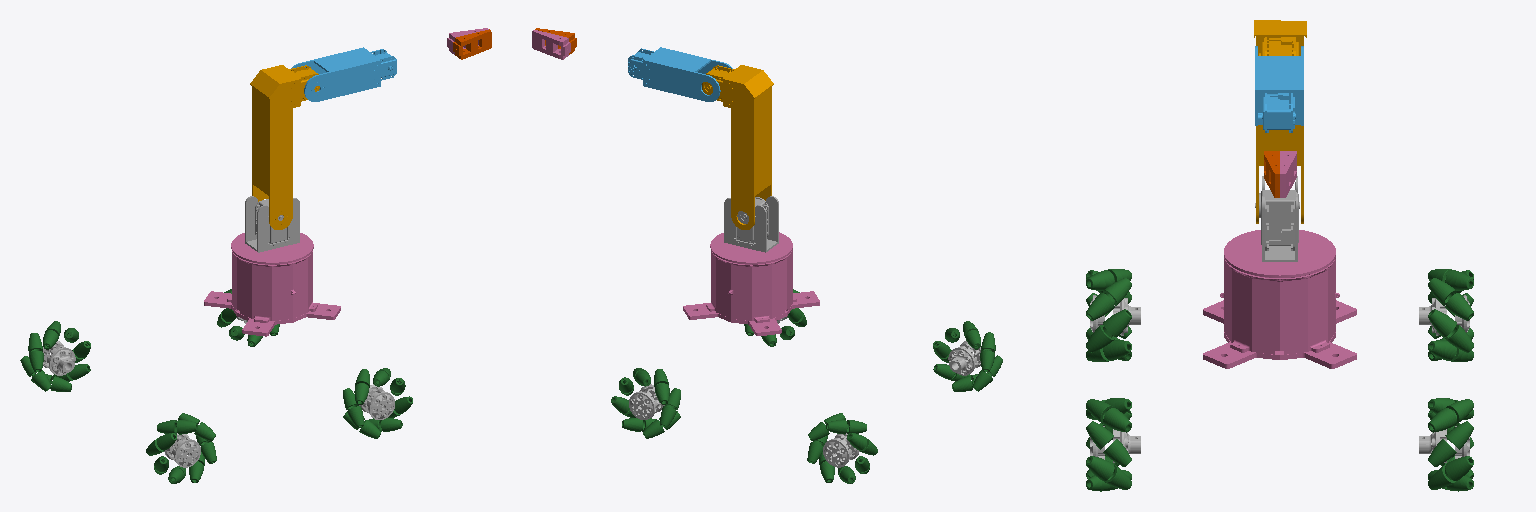
--- Facts derived from the render (not from the file) ---
3 views of the same robot in one strip: view 1: azimuth 30°, elevation 25°; view 2: azimuth 150°, elevation 25°; view 3: azimuth 270°, elevation 25° (orthographic).
Model omnibot_robot with 95 links and 94 joints (5 revolute, 60 continuous, 2 prismatic, 27 fixed), rooted at base_footprint, posed every joint at zero.
Visible links, largest first — view 1: ang_link0, ang_link2, ang_link3, ang_link1, right_front_mecanum_adapter_link, right_back_mecanum_adapter_link, ang_link6, left_back_mecanum_adapter_link; view 2: ang_link0, ang_link2, ang_link3, ang_link1, left_front_mecanum_adapter_link, left_back_mecanum_adapter_link, ang_link7, right_back_mecanum_adapter_link; view 3: ang_link0, ang_link3, ang_link2, ang_link1, ang_link7, ang_link6, right_front_mecanum_adapter_link, left_front_mecanum_adapter_link, left_back_mecanum_adapter_link, right_back_mecanum_adapter_link.
Link boxes in pixels (x1=…): ang_link0: x1=204, y1=233, x2=340, y2=336; ang_link2: x1=250, y1=65, x2=319, y2=229; ang_link3: x1=291, y1=47, x2=396, y2=101; ang_link1: x1=245, y1=196, x2=299, y2=252; right_front_mecanum_adapter_link: x1=359, y1=384, x2=394, y2=419; right_back_mecanum_adapter_link: x1=164, y1=433, x2=200, y2=467; ang_link6: x1=453, y1=29, x2=491, y2=59; left_back_mecanum_adapter_link: x1=43, y1=341, x2=75, y2=375; ang_link0: x1=683, y1=232, x2=819, y2=335; ang_link2: x1=702, y1=65, x2=773, y2=229; ang_link3: x1=628, y1=47, x2=732, y2=101; ang_link1: x1=724, y1=196, x2=778, y2=252; left_front_mecanum_adapter_link: x1=629, y1=384, x2=664, y2=419; left_back_mecanum_adapter_link: x1=823, y1=433, x2=859, y2=467; ang_link7: x1=532, y1=30, x2=570, y2=59; right_back_mecanum_adapter_link: x1=948, y1=341, x2=980, y2=375; ang_link0: x1=1203, y1=230, x2=1356, y2=368; ang_link3: x1=1255, y1=46, x2=1303, y2=132; ang_link2: x1=1254, y1=20, x2=1306, y2=223; ang_link1: x1=1255, y1=176, x2=1299, y2=261; ang_link7: x1=1280, y1=151, x2=1296, y2=197; ang_link6: x1=1264, y1=151, x2=1279, y2=197; right_front_mecanum_adapter_link: x1=1090, y1=426, x2=1140, y2=462; left_front_mecanum_adapter_link: x1=1419, y1=426, x2=1469, y2=462; left_back_mecanum_adapter_link: x1=1419, y1=295, x2=1469, y2=335; right_back_mecanum_adapter_link: x1=1090, y1=295, x2=1140, y2=335.
Size in the robot's own frame: 0.6909 by 0.4273 by 0.5308 metres.
66 mesh visuals loaded from 13 distinct referenced files (7 Collada DAE); not drawn: 9 (reference not matched to a file when rendering).

robot.urdf — omnibot_robot:
<?xml version="1.0" ?>
<!-- =================================================================================== -->
<!-- |    This document was autogenerated by xacro from [local-path]/OmniBot/src/omnibot_description/urdf/omnibot_description.urdf.xacro | -->
<!-- |    EDITING THIS FILE BY HAND IS NOT RECOMMENDED                                 | -->
<!-- =================================================================================== -->
<robot name="omnibot_robot">
    <gazebo>
        <plugin filename="libgazebo_ros_control.so" name="gazebo_ros_control">
            <robotNamespace>omnibot_robot</robotNamespace>
        </plugin>
    </gazebo>
    <arg default="omnibot_platform" name="robot_namespace" />
    <!-- OMNIWHEEL -->
    <!-- REALSENSE -->
    <!-- <xacro:property name="t265_xacro_path"
        value="$(find omnibot_platform_description)/urdf/t265.xacro" />
    <xacro:property name="t265_mesh_path"
        value="package://omnibot_platform_description/meshes/t265.stl" /> -->
    <!-- <xacro:property name="d435_x_offset" value="-0.01950" />
    <xacro:property name="d435_y_offset" value="0.0" />
    <xacro:property name="d435_z_offset" value="0.019" /> -->
    <!--  PLATFORM DESCRIPTION -->
    <link name="base_footprint" />
    <link name="base_link">
        <inertial>
            <origin rpy="0.0 3.14         -1.57" xyz="0.0 0.0         0.0" />
            <mass value="3.0" />
            <inertia ixx="0.03822400000000001" ixy="0" ixz="0" iyy="0.0334243025" iyz="0" izz="0.0334243025" />
        </inertial>
        <visual name="">
            <origin rpy="0.0 3.14 -1.57" xyz="0.0 0.0 0.0" />
            <geometry>
                <mesh filename="package://omnibot_platform_description/meshes/base.dae" scale="0.001 0.001 0.001" />
            </geometry>
            <material name="">
                <color rgba="1.0 0.0 0.0 1.0" />
                <texture filename="" />
            </material>
        </visual>
        <collision>
            <origin rpy="0.0 3.14 -1.57" xyz="0.0 0.0 0.0" />
            <geometry>
                <mesh filename="package://omnibot_platform_description/meshes/base.dae" scale="0.001 0.001 0.001" />
            </geometry>
        </collision>
    </link>
    <joint name="base_footprint_joint" type="fixed">
        <parent link="base_footprint" />
        <child link="base_link" />
        <origin rpy="0.0 0.0 0.0" xyz="0.0 0.0 0.0" />
    </joint>
    <link name="left_front_mecanum_wheel_link">
        <visual>
            <origin rpy="0 0 1.57" xyz="0 0 0" />
            <geometry>
                <mesh filename="package://omnibot_platform_description/meshes/wheel_base.dae" scale="0.001 0.001 0.001" />
            </geometry>
        </visual>
        <collision>
            <origin rpy="0 0 1.57" xyz="0 0 0" />
            <geometry>
                <mesh filename="package://omnibot_platform_description/meshes/wheel_base.dae" scale="0.001 0.001 0.001" />
            </geometry>
        </collision>
        <inertial>
            <origin rpy="0 0 0" xyz="0 0 0" />
            <mass value="0.25" />
            <inertia ixx="0.0031" ixy="0" ixz="0" iyy="0.005" iyz="0" izz="0.0031" />
        </inertial>
    </link>
    <joint name="left_front_adapter_connector_joint" type="fixed">
        <parent link="left_front_mecanum_wheel_link" />
        <child link="left_front_mecanum_adapter_link" />
        <origin rpy="0 0 1.57" xyz="0 0 0" />
    </joint>
    <link name="left_front_mecanum_adapter_link">
        <visual>
            <origin rpy="0 0 1.57" xyz="0 0.035 0" />
            <geometry>
                <mesh filename="package://omnibot_platform_description/meshes/adapter.dae" scale="0.001 0.001 0.001" />
            </geometry>
        </visual>
        <collision>
            <origin rpy="0 0 1.57" xyz="0 0.035 0" />
            <geometry>
                <mesh filename="package://omnibot_platform_description/meshes/adapter.dae" scale="0.001 0.001 0.001" />
            </geometry>
        </collision>
        <inertial>
            <origin rpy="0 0 0" xyz="0 0 0" />
            <mass value="0.005" />
            <inertia ixx="0.00001" ixy="0.0" ixz="0.0" iyy="0.00001" iyz="0.0" izz="0.00001" />
        </inertial>
    </link>
    <gazebo reference="left_front_wheel_link">
        <mu1 value="0.6" />
        <mu2 value="0.6" />
        <kp value="10000000.0" />
        <kd value="1.0" />
        <fdir1 value="0 1 0" />
    </gazebo>
    <link name="left_front_roller_1_7_link">
        <visual>
            <origin rpy="0 0 0" xyz="-0.002 0 0" />
            <geometry>
                <mesh filename="package://omnibot_platform_description/meshes/wheel_roller2.dae" scale="0.001 0.001 0.001" />
            </geometry>
        </visual>
        <collision>
            <origin rpy="0 0 0" xyz="-0.002 0 0" />
            <geometry>
                <mesh filename="package://omnibot_platform_description/meshes/wheel_roller2.dae" scale="0.001 0.001 0.001" />
            </geometry>
        </collision>
        <inertial>
            <origin rpy="0 0 0" xyz="-0.002 0 0" />
            <mass value="0.3" />
            <inertia ixx="0.00024000" ixy="0.0" ixz="0.0" iyy="0.00076000" iyz="0.0" izz="0.00076000" />
        </inertial>
        <surface>
            <friction>
                <ode>
                    <mu1>10.2</mu1>
                    <mu2>10.2</mu2>
                    <kp>1e15</kp>
                    <kd>1e13</kd>
                </ode>
            </friction>
            <bounce>
                <restitution_coefficient>0.01</restitution_coefficient>
                <threshold>0</threshold>
            </bounce>
            <contact>
                <ode>
                    <max_vel>100</max_vel>
                </ode>
            </contact>
        </surface>
    </link>
    <joint name="left_front_roller_1_7_joint" type="continuous">
        <origin rpy="1.0573448805303245 0.4565720337917211 -0.6635639812413235" xyz="0 0.025122274586293944 -0.03149920859715446" />
        <axis xyz="1 0 0" />
        <parent link="left_front_mecanum_wheel_link" />
        <child link="left_front_roller_1_7_link" />
        <!-- <safety_controller k_velocity="10.0" /> -->
        <dynamics damping="0.001" friction="0.0001" />
    </joint>
    <transmission name="left_front_roller_1_7_trans">
        <type>transmission_interface/SimpleTransmission</type>
        <joint name="left_front_roller_1_7_joint">
            <hardwareInterface>hardware_interface/EffortJointInterface</hardwareInterface>
        </joint>
        <actuator name="left_front_roller_1_7_motor">
            <hardwareInterface>hardware_interface/EffortJointInterface</hardwareInterface>
            <mechanismReduction>1</mechanismReduction>
            <mechanicalReduction>1</mechanicalReduction>
        </actuator>
    </transmission>
    <!-- <gazebo reference="${joint_name}_link">
        <selfCollide>0</selfCollide>
        <kp>1000000</kp>
        <kd>100</kd>
      </gazebo> -->
    <link name="left_front_roller_1_6_link">
        <visual>
            <origin rpy="0 0 0" xyz="-0.002 0 0" />
            <geometry>
                <mesh filename="package://omnibot_platform_description/meshes/wheel_roller2.dae" scale="0.001 0.001 0.001" />
            </geometry>
        </visual>
        <collision>
            <origin rpy="0 0 0" xyz="-0.002 0 0" />
            <geometry>
                <mesh filename="package://omnibot_platform_description/meshes/wheel_roller2.dae" scale="0.001 0.001 0.001" />
            </geometry>
        </collision>
        <inertial>
            <origin rpy="0 0 0" xyz="-0.002 0 0" />
            <mass value="0.3" />
            <inertia ixx="0.00024000" ixy="0.0" ixz="0.0" iyy="0.00076000" iyz="0.0" izz="0.00076000" />
        </inertial>
        <surface>
            <friction>
                <ode>
                    <mu1>10.2</mu1>
                    <mu2>10.2</mu2>
                    <kp>1e15</kp>
                    <kd>1e13</kd>
                </ode>
            </friction>
            <bounce>
                <restitution_coefficient>0.01</restitution_coefficient>
                <threshold>0</threshold>
            </bounce>
            <contact>
                <ode>
                    <max_vel>100</max_vel>
                </ode>
            </contact>
        </surface>
    </link>
    <joint name="left_front_roller_1_6_joint" type="continuous">
        <origin rpy="-1.410783610235587 -0.15800265975965155 -0.7727036539648158" xyz="0 -0.008966035991901749 -0.039278870653893495" />
        <axis xyz="1 0 0" />
        <parent link="left_front_mecanum_wheel_link" />
        <child link="left_front_roller_1_6_link" />
        <!-- <safety_controller k_velocity="10.0" /> -->
        <dynamics damping="0.001" friction="0.0001" />
    </joint>
    <transmission name="left_front_roller_1_6_trans">
        <type>transmission_interface/SimpleTransmission</type>
        <joint name="left_front_roller_1_6_joint">
            <hardwareInterface>hardware_interface/EffortJointInterface</hardwareInterface>
        </joint>
        <actuator name="left_front_roller_1_6_motor">
            <hardwareInterface>hardware_interface/EffortJointInterface</hardwareInterface>
            <mechanismReduction>1</mechanismReduction>
            <mechanicalReduction>1</mechanicalReduction>
        </actuator>
    </transmission>
    <!-- <gazebo reference="${joint_name}_link">
        <selfCollide>0</selfCollide>
        <kp>1000000</kp>
        <kd>100</kd>
      </gazebo> -->
    <link name="left_front_roller_1_5_link">
        <visual>
            <origin rpy="0 0 0" xyz="-0.002 0 0" />
            <geometry>
                <mesh filename="package://omnibot_platform_description/meshes/wheel_roller2.dae" scale="0.001 0.001 0.001" />
            </geometry>
        </visual>
        <collision>
            <origin rpy="0 0 0" xyz="-0.002 0 0" />
            <geometry>
                <mesh filename="package://omnibot_platform_description/meshes/wheel_roller2.dae" scale="0.001 0.001 0.001" />
            </geometry>
        </collision>
        <inertial>
            <origin rpy="0 0 0" xyz="-0.002 0 0" />
            <mass value="0.3" />
            <inertia ixx="0.00024000" ixy="0.0" ixz="0.0" iyy="0.00076000" iyz="0.0" izz="0.00076000" />
        </inertial>
        <surface>
            <friction>
                <ode>
                    <mu1>10.2</mu1>
                    <mu2>10.2</mu2>
                    <kp>1e15</kp>
                    <kd>1e13</kd>
                </ode>
            </friction>
            <bounce>
                <restitution_coefficient>0.01</restitution_coefficient>
                <threshold>0</threshold>
            </bounce>
            <contact>
                <ode>
                    <max_vel>100</max_vel>
                </ode>
            </contact>
        </surface>
    </link>
    <joint name="left_front_roller_1_5_joint" type="continuous">
        <origin rpy="-0.5978938662841263 -0.6907055756402474 -0.4093711270983411" xyz="0 -0.036302738594392175 -0.017480741965307293" />
        <axis xyz="1 0 0" />
        <parent link="left_front_mecanum_wheel_link" />
        <child link="left_front_roller_1_5_link" />
        <!-- <safety_controller k_velocity="10.0" /> -->
        <dynamics damping="0.001" friction="0.0001" />
    </joint>
    <transmission name="left_front_roller_1_5_trans">
        <type>transmission_interface/SimpleTransmission</type>
        <joint name="left_front_roller_1_5_joint">
            <hardwareInterface>hardware_interface/EffortJointInterface</hardwareInterface>
        </joint>
        <actuator name="left_front_roller_1_5_motor">
            <hardwareInterface>hardware_interface/EffortJointInterface</hardwareInterface>
            <mechanismReduction>1</mechanismReduction>
            <mechanicalReduction>1</mechanicalReduction>
        </actuator>
    </transmission>
    <!-- <gazebo reference="${joint_name}_link">
        <selfCollide>0</selfCollide>
        <kp>1000000</kp>
        <kd>100</kd>
      </gazebo> -->
    <link name="left_front_roller_1_4_link">
        <visual>
            <origin rpy="0 0 0" xyz="-0.002 0 0" />
            <geometry>
                <mesh filename="package://omnibot_platform_description/meshes/wheel_roller2.dae" scale="0.001 0.001 0.001" />
            </geometry>
        </visual>
        <collision>
            <origin rpy="0 0 0" xyz="-0.002 0 0" />
            <geometry>
                <mesh filename="package://omnibot_platform_description/meshes/wheel_roller2.dae" scale="0.001 0.001 0.001" />
            </geometry>
        </collision>
        <inertial>
            <origin rpy="0 0 0" xyz="-0.002 0 0" />
            <mass value="0.3" />
            <inertia ixx="0.00024000" ixy="0.0" ixz="0.0" iyy="0.00076000" iyz="0.0" izz="0.00076000" />
        </inertial>
        <surface>
            <friction>
                <ode>
                    <mu1>10.2</mu1>
                    <mu2>10.2</mu2>
                    <kp>1e15</kp>
                    <kd>1e13</kd>
                </ode>
            </friction>
            <bounce>
                <restitution_coefficient>0.01</restitution_coefficient>
                <threshold>0</threshold>
            </bounce>
            <contact>
                <ode>
                    <max_vel>100</max_vel>
                </ode>
            </contact>
        </surface>
    </link>
    <joint name="left_front_roller_1_4_joint" type="continuous">
        <origin rpy="0.5978938662841266 -0.6907055756402473 0.4093711270983413" xyz="0 -0.036302738594392175 0.017480741965307304" />
        <axis xyz="1 0 0" />
        <parent link="left_front_mecanum_wheel_link" />
        <child link="left_front_roller_1_4_link" />
        <!-- <safety_controller k_velocity="10.0" /> -->
        <dynamics damping="0.001" friction="0.0001" />
    </joint>
    <transmission name="left_front_roller_1_4_trans">
        <type>transmission_interface/SimpleTransmission</type>
        <joint name="left_front_roller_1_4_joint">
            <hardwareInterface>hardware_interface/EffortJointInterface</hardwareInterface>
        </joint>
        <actuator name="left_front_roller_1_4_motor">
            <hardwareInterface>hardware_interface/EffortJointInterface</hardwareInterface>
            <mechanismReduction>1</mechanismReduction>
            <mechanicalReduction>1</mechanicalReduction>
        </actuator>
    </transmission>
    <!-- <gazebo reference="${joint_name}_link">
        <selfCollide>0</selfCollide>
        <kp>1000000</kp>
        <kd>100</kd>
      </gazebo> -->
    <link name="left_front_roller_1_3_link">
        <visual>
            <origin rpy="0 0 0" xyz="-0.002 0 0" />
            <geometry>
                <mesh filename="package://omnibot_platform_description/meshes/wheel_roller2.dae" scale="0.001 0.001 0.001" />
            </geometry>
        </visual>
        <collision>
            <origin rpy="0 0 0" xyz="-0.002 0 0" />
            <geometry>
                <mesh filename="package://omnibot_platform_description/meshes/wheel_roller2.dae" scale="0.001 0.001 0.001" />
            </geometry>
        </collision>
        <inertial>
            <origin rpy="0 0 0" xyz="-0.002 0 0" />
            <mass value="0.3" />
            <inertia ixx="0.00024000" ixy="0.0" ixz="0.0" iyy="0.00076000" iyz="0.0" izz="0.00076000" />
        </inertial>
        <surface>
            <friction>
                <ode>
                    <mu1>10.2</mu1>
                    <mu2>10.2</mu2>
                    <kp>1e15</kp>
                    <kd>1e13</kd>
                </ode>
            </friction>
            <bounce>
                <restitution_coefficient>0.01</restitution_coefficient>
                <threshold>0</threshold>
            </bounce>
            <contact>
                <ode>
                    <max_vel>100</max_vel>
                </ode>
            </contact>
        </surface>
    </link>
    <joint name="left_front_roller_1_3_joint" type="continuous">
        <origin rpy="1.4107836102355866 -0.15800265975965203 0.7727036539648157" xyz="0 -0.008966035991901775 0.03927887065389349" />
        <axis xyz="1 0 0" />
        <parent link="left_front_mecanum_wheel_link" />
        <child link="left_front_roller_1_3_link" />
        <!-- <safety_controller k_velocity="10.0" /> -->
        <dynamics damping="0.001" friction="0.0001" />
    </joint>
    <transmission name="left_front_roller_1_3_trans">
        <type>transmission_interface/SimpleTransmission</type>
        <joint name="left_front_roller_1_3_joint">
            <hardwareInterface>hardware_interface/EffortJointInterface</hardwareInterface>
        </joint>
        <actuator name="left_front_roller_1_3_motor">
            <hardwareInterface>hardware_interface/EffortJointInterface</hardwareInterface>
            <mechanismReduction>1</mechanismReduction>
            <mechanicalReduction>1</mechanicalReduction>
        </actuator>
    </transmission>
    <!-- <gazebo reference="${joint_name}_link">
        <selfCollide>0</selfCollide>
        <kp>1000000</kp>
        <kd>100</kd>
      </gazebo> -->
    <link name="left_front_roller_1_2_link">
        <visual>
            <origin rpy="0 0 0" xyz="-0.002 0 0" />
            <geometry>
                <mesh filename="package://omnibot_platform_description/meshes/wheel_roller2.dae" scale="0.001 0.001 0.001" />
            </geometry>
        </visual>
        <collision>
            <origin rpy="0 0 0" xyz="-0.002 0 0" />
            <geometry>
                <mesh filename="package://omnibot_platform_description/meshes/wheel_roller2.dae" scale="0.001 0.001 0.001" />
            </geometry>
        </collision>
        <inertial>
            <origin rpy="0 0 0" xyz="-0.002 0 0" />
            <mass value="0.3" />
            <inertia ixx="0.00024000" ixy="0.0" ixz="0.0" iyy="0.00076000" iyz="0.0" izz="0.00076000" />
        </inertial>
        <surface>
            <friction>
                <ode>
                    <mu1>10.2</mu1>
                    <mu2>10.2</mu2>
                    <kp>1e15</kp>
                    <kd>1e13</kd>
                </ode>
            </friction>
            <bounce>
                <restitution_coefficient>0.01</restitution_coefficient>
                <threshold>0</threshold>
            </bounce>
            <contact>
                <ode>
                    <max_vel>100</max_vel>
                </ode>
            </contact>
        </surface>
    </link>
    <joint name="left_front_roller_1_2_joint" type="continuous">
        <origin rpy="-1.0573448805303243 0.4565720337917213 0.6635639812413234" xyz="0 0.025122274586293954 0.03149920859715445" />
        <axis xyz="1 0 0" />
        <parent link="left_front_mecanum_wheel_link" />
        <child link="left_front_roller_1_2_link" />
        <!-- <safety_controller k_velocity="10.0" /> -->
        <dynamics damping="0.001" friction="0.0001" />
    </joint>
    <transmission name="left_front_roller_1_2_trans">
        <type>transmission_interface/SimpleTransmission</type>
        <joint name="left_front_roller_1_2_joint">
            <hardwareInterface>hardware_interface/EffortJointInterface</hardwareInterface>
        </joint>
        <actuator name="left_front_roller_1_2_motor">
            <hardwareInterface>hardware_interface/EffortJointInterface</hardwareInterface>
            <mechanismReduction>1</mechanismReduction>
            <mechanicalReduction>1</mechanicalReduction>
        </actuator>
    </transmission>
    <!-- <gazebo reference="${joint_name}_link">
        <selfCollide>0</selfCollide>
        <kp>1000000</kp>
        <kd>100</kd>
      </gazebo> -->
    <link name="left_front_roller_1_1_link">
        <visual>
            <origin rpy="0 0 0" xyz="-0.002 0 0" />
            <geometry>
                <mesh filename="package://omnibot_platform_description/meshes/wheel_roller2.dae" scale="0.001 0.001 0.001" />
            </geometry>
        </visual>
        <collision>
            <origin rpy="0 0 0" xyz="-0.002 0 0" />
            <geometry>
                <mesh filename="package://omnibot_platform_description/meshes/wheel_roller2.dae" scale="0.001 0.001 0.001" />
            </geometry>
        </collision>
        <inertial>
            <origin rpy="0 0 0" xyz="-0.002 0 0" />
            <mass value="0.3" />
            <inertia ixx="0.00024000" ixy="0.0" ixz="0.0" iyy="0.00076000" iyz="0.0" izz="0.00076000" />
        </inertial>
        <surface>
            <friction>
                <ode>
                    <mu1>10.2</mu1>
                    <mu2>10.2</mu2>
                    <kp>1e15</kp>
                    <kd>1e13</kd>
                </ode>
            </friction>
            <bounce>
                <restitution_coefficient>0.01</restitution_coefficient>
                <threshold>0</threshold>
            </bounce>
            <contact>
                <ode>
                    <max_vel>100</max_vel>
                </ode>
            </contact>
        </surface>
    </link>
    <joint name="left_front_roller_1_1_joint" type="continuous">
        <origin rpy="-0.0 0.7853981633974482 0.0" xyz="0 0.040293 0.0" />
        <axis xyz="1 0 0" />
        <parent link="left_front_mecanum_wheel_link" />
        <child link="left_front_roller_1_1_link" />
        <!-- <safety_controller k_velocity="10.0" /> -->
        <dynamics damping="0.001" friction="0.0001" />
    </joint>
    <transmission name="left_front_roller_1_1_trans">
        <type>transmission_interface/SimpleTransmission</type>
        <joint name="left_front_roller_1_1_joint">
            <hardwareInterface>hardware_interface/EffortJointInterface</hardwareInterface>
        </joint>
        <actuator name="left_front_roller_1_1_motor">
            <hardwareInterface>hardware_interface/EffortJointInterface</hardwareInterface>
            <mechanismReduction>1</mechanismReduction>
            <mechanicalReduction>1</mechanicalReduction>
        </actuator>
    </transmission>
    <!-- <gazebo reference="${joint_name}_link">
        <selfCollide>0</selfCollide>
        <kp>1000000</kp>
        <kd>100</kd>
      </gazebo> -->
    <link name="left_front_roller_2_7_link">
        <visual>
            <origin rpy="0 0 0" xyz="-0.002 0 0" />
            <geometry>
                <mesh filename="package://omnibot_platform_description/meshes/wheel_roller2.dae" scale="0.001 0.001 0.001" />
            </geometry>
        </visual>
        <collision>
            <origin rpy="0 0 0" xyz="-0.002 0 0" />
            <geometry>
                <mesh filename="package://omnibot_platform_description/meshes/wheel_roller2.dae" scale="0.001 0.001 0.001" />
            </geometry>
        </collision>
        <inertial>
            <origin rpy="0 0 0" xyz="-0.002 0 0" />
            <mass value="0.3" />
            <inertia ixx="0.00024000" ixy="0.0" ixz="0.0" iyy="0.00076000" iyz="0.0" izz="0.00076000" />
        </inertial>
        <surface>
            <friction>
                <ode>
                    <mu1>10.2</mu1>
                    <mu2>10.2</mu2>
                    <kp>1e15</kp>
                    <kd>1e13</kd>
                </ode>
            </friction>
            <bounce>
                <restitution_coefficient>0.01</restitution_coefficient>
                <threshold>0</threshold>
            </bounce>
            <contact>
                <ode>
                    <max_vel>100</max_vel>
                </ode>
            </contact>
        </surface>
    </link>
    <joint name="left_front_roller_2_7_joint" type="continuous">
        <origin rpy="4.197344880530324 3.596572033791721 -0.6635639812413235" xyz="0 0.025122274586293944 -0.03149920859715446" />
        <axis xyz="1 0 0" />
        <parent link="left_front_mecanum_wheel_link" />
        <child link="left_front_roller_2_7_link" />
        <!-- <safety_controller k_velocity="10.0" /> -->
        <dynamics damping="0.001" friction="0.0001" />
    </joint>
    <transmission name="left_front_roller_2_7_trans">
        <type>transmission_interface/SimpleTransmission</type>
        <joint name="left_front_roller_2_7_joint">
            <hardwareInterface>hardware_interface/EffortJointInterface</hardwareInterface>
        </joint>
        <actuator name="left_front_roller_2_7_motor">
            <hardwareInterface>hardware_interface/EffortJointInterface</hardwareInterface>
            <mechanismReduction>1</mechanismReduction>
            <mechanicalReduction>1</mechanicalReduction>
        </actuator>
    </transmission>
    <!-- <gazebo reference="${joint_name}_link">
        <selfCollide>0</selfCollide>
        <kp>1000000</kp>
        <kd>100</kd>
      </gazebo> -->
    <link name="left_front_roller_2_6_link">
        <visual>
            <origin rpy="0 0 0" xyz="-0.002 0 0" />
            <geometry>
                <mesh filename="package://omnibot_platform_description/meshes/wheel_roller2.dae" scale="0.001 0.001 0.001" />
            </geometry>
        </visual>
        <collision>
            <origin rpy="0 0 0" xyz="-0.002 0 0" />
            <geometry>
                <mesh filename="package://omnibot_platform_description/meshes/wheel_roller2.dae" scale="0.001 0.001 0.001" />
            </geometry>
        </collision>
        <inertial>
            <origin rpy="0 0 0" xyz="-0.002 0 0" />
            <mass value="0.3" />
            <inertia ixx="0.00024000" ixy="0.0" ixz="0.0" iyy="0.00076000" iyz="0.0" izz="0.00076000" />
        </inertial>
        <surface>
            <friction>
                <ode>
                    <mu1>10.2</mu1>
                    <mu2>10.2</mu2>
                    <kp>1e15</kp>
                    <kd>1e13</kd>
                </ode>
            </friction>
            <bounce>
                <restitution_coefficient>0.01</restitution_coefficient>
                <threshold>0</threshold>
            </bounce>
            <contact>
                <ode>
                    <max_vel>100</max_vel>
                </ode>
            </contact>
        </surface>
    </link>
    <joint name="left_front_roller_2_6_joint" type="continuous">
        <origin rpy="1.729216389764413 2.9819973402403486 -0.7727036539648158" xyz="0 -0.008966035991901749 -0.039278870653893495" />
        <axis xyz="1 0 0" />
        <parent link="left_front_mecanum_wheel_link" />
        <child link="left_front_roller_2_6_link" />
        <!-- <safety_controller k_velocity="10.0" /> -->
        <dynamics damping="0.001" friction="0.0001" />
    </joint>
    <transmission name="left_front_roller_2_6_trans">
        <type>transmission_interface/SimpleTransmission</type>
        <joint name="left_front_roller_2_6_joint">
            <hardwareInterface>hardware_interface/EffortJointInterface</hardwareInterface>
        </joint>
        <actuator name="left_front_roller_2_6_motor">
            <hardwareInterface>hardware_interface/EffortJointInterface</hardwareInterface>
            <mechanismReduction>1</mechanismReduction>
            <mechanicalReduction>1</mechanicalReduction>
        </actuator>
    </transmission>
    <!-- <gazebo reference="${joint_name}_link">
        <selfCollide>0</selfCollide>
        <kp>1000000</kp>
        <kd>100</kd>
      </gazebo> -->
    <link name="left_front_roller_2_5_link">
        <visual>
            <origin rpy="0 0 0" xyz="-0.002 0 0" />
            <geometry>
                <mesh filename="package://omnibot_platform_description/meshes/wheel_roller2.dae" scale="0.001 0.001 0.001" />
            </geometry>
        </visual>
        <collision>
            <origin rpy="0 0 0" xyz="-0.002 0 0" />
            <geometry>
                <mesh filename="package://omnibot_platform_description/meshes/wheel_roller2.dae" scale="0.001 0.001 0.001" />
            </geometry>
        </collision>
        <inertial>
            <origin rpy="0 0 0" xyz="-0.002 0 0" />
            <mass value="0.3" />
            <inertia ixx="0.00024000" ixy="0.0" ixz="0.0" iyy="0.00076000" iyz="0.0" izz="0.00076000" />
        </inertial>
        <surface>
            <friction>
                <ode>
                    <mu1>10.2</mu1>
                    <mu2>10.2</mu2>
                    <kp>1e15</kp>
                    <kd>1e13</kd>
                </ode>
            </friction>
            <bounce>
                <restitution_coefficient>0.01</restitution_coefficient>
                <threshold>0</threshold>
            </bounce>
            <contact>
                <ode>
                    <max_vel>100</max_vel>
                </ode>
            </contact>
        </surface>
    </link>
    <joint name="left_front_roller_2_5_joint" type="continuous">
        <origin rpy="2.542106133715874 2.4492944243597528 -0.4093711270983411" xyz="0 -0.036302738594392175 -0.017480741965307293" />
        <axis xyz="1 0 0" />
        <parent link="left_front_mecanum_wheel_link" />
        <child link="left_front_roller_2_5_link" />
        <!-- <safety_controller k_velocity="10.0" /> -->
        <dynamics damping="0.001" friction="0.0001" />
    </joint>
    <transmission name="left_front_roller_2_5_trans">
        <type>transmission_interface/SimpleTransmission</type>
        <joint name="left_front_roller_2_5_joint">
            <hardwareInterface>hardware_interface/EffortJointInterface</hardwareInterface>
        </joint>
        <actuator name="left_front_roller_2_5_motor">
            <hardwareInterface>hardware_interface/EffortJointInterface</hardwareInterface>
            <mechanismReduction>1</mechanismReduction>
            <mechanicalReduction>1</mechanicalReduction>
        </actuator>
    </transmission>
    <!-- <gazebo reference="${joint_name}_link">
        <selfCollide>0</selfCollide>
        <kp>1000000</kp>
        <kd>100</kd>
      </gazebo> -->
    <link name="left_front_roller_2_4_link">
        <visual>
            <origin rpy="0 0 0" xyz="-0.002 0 0" />
            <geometry>
                <mesh filename="package://omnibot_platform_description/meshes/wheel_roller2.dae" scale="0.001 0.001 0.001" />
            </geometry>
        </visual>
        <collision>
            <origin rpy="0 0 0" xyz="-0.002 0 0" />
            <geometry>
                <mesh filename="package://omnibot_platform_description/meshes/wheel_roller2.dae" scale="0.001 0.001 0.001" />
            </geometry>
        </collision>
        <inertial>
            <origin rpy="0 0 0" xyz="-0.002 0 0" />
            <mass value="0.3" />
            <inertia ixx="0.00024000" ixy="0.0" ixz="0.0" iyy="0.00076000" iyz="0.0" izz="0.00076000" />
        </inertial>
        <surface>
            <friction>
                <ode>
                    <mu1>10.2</mu1>
                    <mu2>10.2</mu2>
                    <kp>1e15</kp>
                    <kd>1e13</kd>
                </ode>
            </friction>
            <bounce>
                <restitution_coefficient>0.01</restitution_coefficient>
                <threshold>0</threshold>
            </bounce>
            <contact>
                <ode>
                    <max_vel>100</max_vel>
                </ode>
            </contact>
        </surface>
    </link>
    <joint name="left_front_roller_2_4_joint" type="continuous">
        <origin rpy="3.737893866284127 2.4492944243597528 0.4093711270983413" xyz="0 -0.036302738594392175 0.017480741965307304" />
        <axis xyz="1 0 0" />
        <parent link="left_front_mecanum_wheel_link" />
        <child link="left_front_roller_2_4_link" />
        <!-- <safety_controller k_velocity="10.0" /> -->
        <dynamics damping="0.001" friction="0.0001" />
    </joint>
    <transmission name="left_front_roller_2_4_trans">
        <type>transmission_interface/SimpleTransmission</type>
        <joint name="left_front_roller_2_4_joint">
            <hardwareInterface>hardware_interface/EffortJointInterface</hardwareInterface>
        </joint>
        <actuator name="left_front_roller_2_4_motor">
            <hardwareInterface>hardware_interface/EffortJointInterface</hardwareInterface>
            <mechanismReduction>1</mechanismReduction>
            <mechanicalReduction>1</mechanicalReduction>
        </actuator>
    </transmission>
    <!-- <gazebo reference="${joint_name}_link">
        <selfCollide>0</selfCollide>
        <kp>1000000</kp>
        <kd>100</kd>
      </gazebo> -->
    <link name="left_front_roller_2_3_link">
        <visual>
            <origin rpy="0 0 0" xyz="-0.002 0 0" />
            <geometry>
                <mesh filename="package://omnibot_platform_description/meshes/wheel_roller2.dae" scale="0.001 0.001 0.001" />
            </geometry>
        </visual>
        <collision>
            <origin rpy="0 0 0" xyz="-0.002 0 0" />
            <geometry>
                <mesh filename="package://omnibot_platform_description/meshes/wheel_roller2.dae" scale="0.001 0.001 0.001" />
            </geometry>
        </collision>
        <inertial>
            <origin rpy="0 0 0" xyz="-0.002 0 0" />
            <mass value="0.3" />
            <inertia ixx="0.00024000" ixy="0.0" ixz="0.0" iyy="0.00076000" iyz="0.0" izz="0.00076000" />
        </inertial>
        <surface>
            <friction>
                <ode>
                    <mu1>10.2</mu1>
                    <mu2>10.2</mu2>
                    <kp>1e15</kp>
                    <kd>1e13</kd>
                </ode>
            </friction>
            <bounce>
                <restitution_coefficient>0.01</restitution_coefficient>
                <threshold>0</threshold>
            </bounce>
            <contact>
                <ode>
                    <max_vel>100</max_vel>
                </ode>
            </contact>
        </surface>
    </link>
    <joint name="left_front_roller_2_3_joint" type="continuous">
        <origin rpy="4.5507836102355865 2.981997340240348 0.7727036539648157" xyz="0 -0.008966035991901775 0.03927887065389349" />
        <axis xyz="1 0 0" />
        <parent link="left_front_mecanum_wheel_link" />
        <child link="left_front_roller_2_3_link" />
        <!-- <safety_controller k_velocity="10.0" /> -->
        <dynamics damping="0.001" friction="0.0001" />
    </joint>
    <transmission name="left_front_roller_2_3_trans">
        <type>transmission_interface/SimpleTransmission</type>
        <joint name="left_front_roller_2_3_joint">
            <hardwareInterface>hardware_interface/EffortJointInterface</hardwareInterface>
        </joint>
        <actuator name="left_front_roller_2_3_motor">
            <hardwareInterface>hardware_interface/EffortJointInterface</hardwareInterface>
            <mechanismReduction>1</mechanismReduction>
            <mechanicalReduction>1</mechanicalReduction>
        </actuator>
    </transmission>
    <!-- <gazebo reference="${joint_name}_link">
        <selfCollide>0</selfCollide>
        <kp>1000000</kp>
        <kd>100</kd>
      </gazebo> -->
    <link name="left_front_roller_2_2_link">
        <visual>
            <origin rpy="0 0 0" xyz="-0.002 0 0" />
            <geometry>
                <mesh filename="package://omnibot_platform_description/meshes/wheel_roller2.dae" scale="0.001 0.001 0.001" />
            </geometry>
        </visual>
        <collision>
            <origin rpy="0 0 0" xyz="-0.002 0 0" />
            <geometry>
                <mesh filename="package://omnibot_platform_description/meshes/wheel_roller2.dae" scale="0.001 0.001 0.001" />
            </geometry>
        </collision>
        <inertial>
            <origin rpy="0 0 0" xyz="-0.002 0 0" />
            <mass value="0.3" />
            <inertia ixx="0.00024000" ixy="0.0" ixz="0.0" iyy="0.00076000" iyz="0.0" izz="0.00076000" />
        </inertial>
        <surface>
            <friction>
                <ode>
                    <mu1>10.2</mu1>
                    <mu2>10.2</mu2>
                    <kp>1e15</kp>
                    <kd>1e13</kd>
                </ode>
            </friction>
            <bounce>
                <restitution_coefficient>0.01</restitution_coefficient>
                <threshold>0</threshold>
            </bounce>
            <contact>
                <ode>
                    <max_vel>100</max_vel>
                </ode>
            </contact>
        </surface>
    </link>
    <joint name="left_front_roller_2_2_joint" type="continuous">
        <origin rpy="2.082655119469676 3.5965720337917215 0.6635639812413234" xyz="0 0.025122274586293954 0.03149920859715445" />
        <axis xyz="1 0 0" />
        <parent link="left_front_mecanum_wheel_link" />
        <child link="left_front_roller_2_2_link" />
        <!-- <safety_controller k_velocity="10.0" /> -->
        <dynamics damping="0.001" friction="0.0001" />
    </joint>
    <transmission name="left_front_roller_2_2_trans">
        <type>transmission_interface/SimpleTransmission</type>
        <joint name="left_front_roller_2_2_joint">
            <hardwareInterface>hardware_interface/EffortJointInterface</hardwareInterface>
        </joint>
        <actuator name="left_front_roller_2_2_motor">
            <hardwareInterface>hardware_interface/EffortJointInterface</hardwareInterface>
            <mechanismReduction>1</mechanismReduction>
            <mechanicalReduction>1</mechanicalReduction>
        </actuator>
    </transmission>
    <!-- <gazebo reference="${joint_name}_link">
        <selfCollide>0</selfCollide>
        <kp>1000000</kp>
        <kd>100</kd>
      </gazebo> -->
    <link name="left_front_roller_2_1_link">
        <visual>
            <origin rpy="0 0 0" xyz="-0.002 0 0" />
            <geometry>
                <mesh filename="package://omnibot_platform_description/meshes/wheel_roller2.dae" scale="0.001 0.001 0.001" />
            </geometry>
        </visual>
        <collision>
            <origin rpy="0 0 0" xyz="-0.002 0 0" />
            <geometry>
                <mesh filename="package://omnibot_platform_description/meshes/wheel_roller2.dae" scale="0.001 0.001 0.001" />
            </geometry>
        </collision>
        <inertial>
            <origin rpy="0 0 0" xyz="-0.002 0 0" />
            <mass value="0.3" />
            <inertia ixx="0.00024000" ixy="0.0" ixz="0.0" iyy="0.00076000" iyz="0.0" izz="0.00076000" />
        </inertial>
        <surface>
            <friction>
                <ode>
                    <mu1>10.2</mu1>
                    <mu2>10.2</mu2>
                    <kp>1e15</kp>
                    <kd>1e13</kd>
                </ode>
            </friction>
            <bounce>
                <restitution_coefficient>0.01</restitution_coefficient>
                <threshold>0</threshold>
            </bounce>
            <contact>
                <ode>
                    <max_vel>100</max_vel>
                </ode>
            </contact>
        </surface>
    </link>
    <joint name="left_front_roller_2_1_joint" type="continuous">
        <origin rpy="3.14 3.9253981633974484 0.0" xyz="0 0.040293 0.0" />
        <axis xyz="1 0 0" />
        <parent link="left_front_mecanum_wheel_link" />
        <child link="left_front_roller_2_1_link" />
        <!-- <safety_controller k_velocity="10.0" /> -->
        <dynamics damping="0.001" friction="0.0001" />
    </joint>
    <transmission name="left_front_roller_2_1_trans">
        <type>transmission_interface/SimpleTransmission</type>
        <joint name="left_front_roller_2_1_joint">
            <hardwareInterface>hardware_interface/EffortJointInterface</hardwareInterface>
        </joint>
        <actuator name="left_front_roller_2_1_motor">
            <hardwareInterface>hardware_interface/EffortJointInterface</hardwareInterface>
            <mechanismReduction>1</mechanismReduction>
            <mechanicalReduction>1</mechanicalReduction>
        </actuator>
    </transmission>
    <!-- <gazebo reference="${joint_name}_link">
        <selfCollide>0</selfCollide>
        <kp>1000000</kp>
        <kd>100</kd>
      </gazebo> -->
    <transmission name="left_front_mecanum_trans">
        <type>transmission_interface/SimpleTransmission</type>
        <actuator name="left_front_mecanum_motor">
            <mechanicalReduction>1</mechanicalReduction>
            <hardwareInterface>hardware_interface/EffortJointInterface</hardwareInterface>
        </actuator>
        <joint name="left_front_mecanum_joint">
            <hardwareInterface>hardware_interface/VelocityJointInterface</hardwareInterface>
        </joint>
    </transmission>
    <joint name="left_front_mecanum_joint" type="continuous">
        <origin rpy="0.0 0.0 1.57" xyz="0.168 0.18805 0.0155" />
        <parent link="base_link" />
        <child link="left_front_mecanum_wheel_link" />
        <axis xyz="1 0 0" />
        <limit effort="1000.0" lower="-3.14" upper="3.14" velocity="100.0" />
    </joint>
    <link name="right_front_mecanum_wheel_link">
        <visual>
            <origin rpy="0 0 -1.57" xyz="0 0 0" />
            <geometry>
                <mesh filename="package://omnibot_platform_description/meshes/wheel_base.dae" scale="-0.001 0.001 0.001" />
            </geometry>
        </visual>
        <collision>
            <origin rpy="0 0 -1.57" xyz="0 0 0" />
            <geometry>
                <mesh filename="package://omnibot_platform_description/meshes/wheel_base.dae" scale="-0.001 0.001 0.001" />
            </geometry>
        </collision>
        <inertial>
            <origin rpy="0 0 0" xyz="0 0 0" />
            <mass value="0.25" />
            <inertia ixx="0.0031" ixy="0" ixz="0" iyy="0.005" iyz="0" izz="0.0031" />
        </inertial>
    </link>
    <joint name="right_front_adapter_connector_joint" type="fixed">
        <parent link="right_front_mecanum_wheel_link" />
        <child link="right_front_mecanum_adapter_link" />
        <origin rpy="0 0 -1.57" xyz="0 0 0" />
    </joint>
    <link name="right_front_mecanum_adapter_link">
        <visual>
            <origin rpy="0 0 -1.57" xyz="0 0.035 0" />
            <geometry>
                <mesh filename="package://omnibot_platform_description/meshes/adapter.dae" scale="-0.001 0.001 0.001" />
            </geometry>
        </visual>
        <collision>
            <origin rpy="0 0 -1.57" xyz="0 0.035 0" />
            <geometry>
                <mesh filename="package://omnibot_platform_description/meshes/adapter.dae" scale="-0.001 0.001 0.001" />
            </geometry>
        </collision>
        <inertial>
            <origin rpy="0 0 0" xyz="0 0 0" />
            <mass value="0.005" />
            <inertia ixx="0.00001" ixy="0.0" ixz="0.0" iyy="0.00001" iyz="0.0" izz="0.00001" />
        </inertial>
    </link>
    <gazebo reference="right_front_wheel_link">
        <mu1 value="0.6" />
        <mu2 value="0.6" />
        <kp value="10000000.0" />
        <kd value="1.0" />
        <fdir1 value="0 1 0" />
    </gazebo>
    <link name="right_front_roller_1_7_link">
        <visual>
            <origin rpy="0 0 0" xyz="-0.002 0 0" />
            <geometry>
                <mesh filename="package://omnibot_platform_description/meshes/wheel_roller2.dae" scale="0.001 0.001 0.001" />
            </geometry>
        </visual>
        <collision>
            <origin rpy="0 0 0" xyz="-0.002 0 0" />
            <geometry>
                <mesh filename="package://omnibot_platform_description/meshes/wheel_roller2.dae" scale="0.001 0.001 0.001" />
            </geometry>
        </collision>
        <inertial>
            <origin rpy="0 0 0" xyz="-0.002 0 0" />
            <mass value="0.3" />
            <inertia ixx="0.00024000" ixy="0.0" ixz="0.0" iyy="0.00076000" iyz="0.0" izz="0.00076000" />
        </inertial>
        <surface>
            <friction>
                <ode>
                    <mu1>10.2</mu1>
                    <mu2>10.2</mu2>
                    <kp>1e15</kp>
                    <kd>1e13</kd>
                </ode>
            </friction>
            <bounce>
                <restitution_coefficient>0.01</restitution_coefficient>
                <threshold>0</threshold>
            </bounce>
            <contact>
                <ode>
                    <max_vel>100</max_vel>
                </ode>
            </contact>
        </surface>
    </link>
    <joint name="right_front_roller_1_7_joint" type="continuous">
        <origin rpy="1.0573448805303245 -0.4565720337917211 0.6635639812413235" xyz="0 0.025122274586293944 -0.03150233592308433" />
        <axis xyz="1 0 0" />
        <parent link="right_front_mecanum_wheel_link" />
        <child link="right_front_roller_1_7_link" />
        <!-- <safety_controller k_velocity="10.0" /> -->
        <dynamics damping="0.001" friction="0.0001" />
    </joint>
    <transmission name="right_front_roller_1_7_trans">
        <type>transmission_interface/SimpleTransmission</type>
        <joint name="right_front_roller_1_7_joint">
            <hardwareInterface>hardware_interface/EffortJointInterface</hardwareInterface>
        </joint>
        <actuator name="right_front_roller_1_7_motor">
            <hardwareInterface>hardware_interface/EffortJointInterface</hardwareInterface>
            <mechanismReduction>1</mechanismReduction>
            <mechanicalReduction>1</mechanicalReduction>
        </actuator>
    </transmission>
    <!-- <gazebo reference="${joint_name}_link">
        <selfCollide>0</selfCollide>
        <kp>1000000</kp>
        <kd>100</kd>
      </gazebo> -->
    <link name="right_front_roller_1_6_link">
        <visual>
            <origin rpy="0 0 0" xyz="-0.002 0 0" />
            <geometry>
                <mesh filename="package://omnibot_platform_description/meshes/wheel_roller2.dae" scale="0.001 0.001 0.001" />
            </geometry>
        </visual>
        <collision>
            <origin rpy="0 0 0" xyz="-0.002 0 0" />
            <geometry>
                <mesh filename="package://omnibot_platform_description/meshes/wheel_roller2.dae" scale="0.001 0.001 0.001" />
            </geometry>
        </collision>
        <inertial>
            <origin rpy="0 0 0" xyz="-0.002 0 0" />
            <mass value="0.3" />
            <inertia ixx="0.00024000" ixy="0.0" ixz="0.0" iyy="0.00076000" iyz="0.0" izz="0.00076000" />
        </inertial>
        <surface>
            <friction>
                <ode>
                    <mu1>10.2</mu1>
                    <mu2>10.2</mu2>
                    <kp>1e15</kp>
                    <kd>1e13</kd>
                </ode>
            </friction>
            <bounce>
                <restitution_coefficient>0.01</restitution_coefficient>
                <threshold>0</threshold>
            </bounce>
            <contact>
                <ode>
                    <max_vel>100</max_vel>
                </ode>
            </contact>
        </surface>
    </link>
    <joint name="right_front_roller_1_6_joint" type="continuous">
        <origin rpy="-1.410783610235587 0.15800265975965155 0.7727036539648158" xyz="0 -0.008966035991901749 -0.03928277036554222" />
        <axis xyz="1 0 0" />
        <parent link="right_front_mecanum_wheel_link" />
        <child link="right_front_roller_1_6_link" />
        <!-- <safety_controller k_velocity="10.0" /> -->
        <dynamics damping="0.001" friction="0.0001" />
    </joint>
    <transmission name="right_front_roller_1_6_trans">
        <type>transmission_interface/SimpleTransmission</type>
        <joint name="right_front_roller_1_6_joint">
            <hardwareInterface>hardware_interface/EffortJointInterface</hardwareInterface>
        </joint>
        <actuator name="right_front_roller_1_6_motor">
            <hardwareInterface>hardware_interface/EffortJointInterface</hardwareInterface>
            <mechanismReduction>1</mechanismReduction>
            <mechanicalReduction>1</mechanicalReduction>
        </actuator>
    </transmission>
    <!-- <gazebo reference="${joint_name}_link">
        <selfCollide>0</selfCollide>
        <kp>1000000</kp>
        <kd>100</kd>
      </gazebo> -->
    <link name="right_front_roller_1_5_link">
        <visual>
            <origin rpy="0 0 0" xyz="-0.002 0 0" />
            <geometry>
                <mesh filename="package://omnibot_platform_description/meshes/wheel_roller2.dae" scale="0.001 0.001 0.001" />
            </geometry>
        </visual>
        <collision>
            <origin rpy="0 0 0" xyz="-0.002 0 0" />
            <geometry>
                <mesh filename="package://omnibot_platform_description/meshes/wheel_roller2.dae" scale="0.001 0.001 0.001" />
            </geometry>
        </collision>
        <inertial>
            <origin rpy="0 0 0" xyz="-0.002 0 0" />
            <mass value="0.3" />
            <inertia ixx="0.00024000" ixy="0.0" ixz="0.0" iyy="0.00076000" iyz="0.0" izz="0.00076000" />
        </inertial>
        <surface>
            <friction>
                <ode>
                    <mu1>10.2</mu1>
                    <mu2>10.2</mu2>
                    <kp>1e15</kp>
                    <kd>1e13</kd>
                </ode>
            </friction>
            <bounce>
                <restitution_coefficient>0.01</restitution_coefficient>
                <threshold>0</threshold>
            </bounce>
            <contact>
                <ode>
                    <max_vel>100</max_vel>
                </ode>
            </contact>
        </surface>
    </link>
    <joint name="right_front_roller_1_5_joint" type="continuous">
        <origin rpy="-0.5978938662841263 0.6907055756402474 0.4093711270983411" xyz="0 -0.036302738594392175 -0.017482477500263768" />
        <axis xyz="1 0 0" />
        <parent link="right_front_mecanum_wheel_link" />
        <child link="right_front_roller_1_5_link" />
        <!-- <safety_controller k_velocity="10.0" /> -->
        <dynamics damping="0.001" friction="0.0001" />
    </joint>
    <transmission name="right_front_roller_1_5_trans">
        <type>transmission_interface/SimpleTransmission</type>
        <joint name="right_front_roller_1_5_joint">
            <hardwareInterface>hardware_interface/EffortJointInterface</hardwareInterface>
        </joint>
        <actuator name="right_front_roller_1_5_motor">
            <hardwareInterface>hardware_interface/EffortJointInterface</hardwareInterface>
            <mechanismReduction>1</mechanismReduction>
            <mechanicalReduction>1</mechanicalReduction>
        </actuator>
    </transmission>
    <!-- <gazebo reference="${joint_name}_link">
        <selfCollide>0</selfCollide>
        <kp>1000000</kp>
        <kd>100</kd>
      </gazebo> -->
    <link name="right_front_roller_1_4_link">
        <visual>
            <origin rpy="0 0 0" xyz="-0.002 0 0" />
            <geometry>
                <mesh filename="package://omnibot_platform_description/meshes/wheel_roller2.dae" scale="0.001 0.001 0.001" />
            </geometry>
        </visual>
        <collision>
            <origin rpy="0 0 0" xyz="-0.002 0 0" />
            <geometry>
                <mesh filename="package://omnibot_platform_description/meshes/wheel_roller2.dae" scale="0.001 0.001 0.001" />
            </geometry>
        </collision>
        <inertial>
            <origin rpy="0 0 0" xyz="-0.002 0 0" />
            <mass value="0.3" />
            <inertia ixx="0.00024000" ixy="0.0" ixz="0.0" iyy="0.00076000" iyz="0.0" izz="0.00076000" />
        </inertial>
        <surface>
            <friction>
                <ode>
                    <mu1>10.2</mu1>
                    <mu2>10.2</mu2>
                    <kp>1e15</kp>
                    <kd>1e13</kd>
                </ode>
            </friction>
            <bounce>
                <restitution_coefficient>0.01</restitution_coefficient>
                <threshold>0</threshold>
            </bounce>
            <contact>
                <ode>
                    <max_vel>100</max_vel>
                </ode>
            </contact>
        </surface>
    </link>
    <joint name="right_front_roller_1_4_joint" type="continuous">
        <origin rpy="0.5978938662841266 0.6907055756402473 -0.4093711270983413" xyz="0 -0.036302738594392175 0.017482477500263775" />
        <axis xyz="1 0 0" />
        <parent link="right_front_mecanum_wheel_link" />
        <child link="right_front_roller_1_4_link" />
        <!-- <safety_controller k_velocity="10.0" /> -->
        <dynamics damping="0.001" friction="0.0001" />
    </joint>
    <transmission name="right_front_roller_1_4_trans">
        <type>transmission_interface/SimpleTransmission</type>
        <joint name="right_front_roller_1_4_joint">
            <hardwareInterface>hardware_interface/EffortJointInterface</hardwareInterface>
        </joint>
        <actuator name="right_front_roller_1_4_motor">
            <hardwareInterface>hardware_interface/EffortJointInterface</hardwareInterface>
            <mechanismReduction>1</mechanismReduction>
            <mechanicalReduction>1</mechanicalReduction>
        </actuator>
    </transmission>
    <!-- <gazebo reference="${joint_name}_link">
        <selfCollide>0</selfCollide>
        <kp>1000000</kp>
        <kd>100</kd>
      </gazebo> -->
    <link name="right_front_roller_1_3_link">
        <visual>
            <origin rpy="0 0 0" xyz="-0.002 0 0" />
            <geometry>
                <mesh filename="package://omnibot_platform_description/meshes/wheel_roller2.dae" scale="0.001 0.001 0.001" />
            </geometry>
        </visual>
        <collision>
            <origin rpy="0 0 0" xyz="-0.002 0 0" />
            <geometry>
                <mesh filename="package://omnibot_platform_description/meshes/wheel_roller2.dae" scale="0.001 0.001 0.001" />
            </geometry>
        </collision>
        <inertial>
            <origin rpy="0 0 0" xyz="-0.002 0 0" />
            <mass value="0.3" />
            <inertia ixx="0.00024000" ixy="0.0" ixz="0.0" iyy="0.00076000" iyz="0.0" izz="0.00076000" />
        </inertial>
        <surface>
            <friction>
                <ode>
                    <mu1>10.2</mu1>
                    <mu2>10.2</mu2>
                    <kp>1e15</kp>
                    <kd>1e13</kd>
                </ode>
            </friction>
            <bounce>
                <restitution_coefficient>0.01</restitution_coefficient>
                <threshold>0</threshold>
            </bounce>
            <contact>
                <ode>
                    <max_vel>100</max_vel>
                </ode>
            </contact>
        </surface>
    </link>
    <joint name="right_front_roller_1_3_joint" type="continuous">
        <origin rpy="1.4107836102355866 0.15800265975965203 -0.7727036539648157" xyz="0 -0.008966035991901775 0.03928277036554222" />
        <axis xyz="1 0 0" />
        <parent link="right_front_mecanum_wheel_link" />
        <child link="right_front_roller_1_3_link" />
        <!-- <safety_controller k_velocity="10.0" /> -->
        <dynamics damping="0.001" friction="0.0001" />
    </joint>
    <transmission name="right_front_roller_1_3_trans">
        <type>transmission_interface/SimpleTransmission</type>
        <joint name="right_front_roller_1_3_joint">
            <hardwareInterface>hardware_interface/EffortJointInterface</hardwareInterface>
        </joint>
        <actuator name="right_front_roller_1_3_motor">
            <hardwareInterface>hardware_interface/EffortJointInterface</hardwareInterface>
            <mechanismReduction>1</mechanismReduction>
            <mechanicalReduction>1</mechanicalReduction>
        </actuator>
    </transmission>
    <!-- <gazebo reference="${joint_name}_link">
        <selfCollide>0</selfCollide>
        <kp>1000000</kp>
        <kd>100</kd>
      </gazebo> -->
    <link name="right_front_roller_1_2_link">
        <visual>
            <origin rpy="0 0 0" xyz="-0.002 0 0" />
            <geometry>
                <mesh filename="package://omnibot_platform_description/meshes/wheel_roller2.dae" scale="0.001 0.001 0.001" />
            </geometry>
        </visual>
        <collision>
            <origin rpy="0 0 0" xyz="-0.002 0 0" />
            <geometry>
                <mesh filename="package://omnibot_platform_description/meshes/wheel_roller2.dae" scale="0.001 0.001 0.001" />
            </geometry>
        </collision>
        <inertial>
            <origin rpy="0 0 0" xyz="-0.002 0 0" />
            <mass value="0.3" />
            <inertia ixx="0.00024000" ixy="0.0" ixz="0.0" iyy="0.00076000" iyz="0.0" izz="0.00076000" />
        </inertial>
        <surface>
            <friction>
                <ode>
                    <mu1>10.2</mu1>
                    <mu2>10.2</mu2>
                    <kp>1e15</kp>
                    <kd>1e13</kd>
                </ode>
            </friction>
            <bounce>
                <restitution_coefficient>0.01</restitution_coefficient>
                <threshold>0</threshold>
            </bounce>
            <contact>
                <ode>
                    <max_vel>100</max_vel>
                </ode>
            </contact>
        </surface>
    </link>
    <joint name="right_front_roller_1_2_joint" type="continuous">
        <origin rpy="-1.0573448805303243 -0.4565720337917213 -0.6635639812413234" xyz="0 0.025122274586293954 0.031502335923084324" />
        <axis xyz="1 0 0" />
        <parent link="right_front_mecanum_wheel_link" />
        <child link="right_front_roller_1_2_link" />
        <!-- <safety_controller k_velocity="10.0" /> -->
        <dynamics damping="0.001" friction="0.0001" />
    </joint>
    <transmission name="right_front_roller_1_2_trans">
        <type>transmission_interface/SimpleTransmission</type>
        <joint name="right_front_roller_1_2_joint">
            <hardwareInterface>hardware_interface/EffortJointInterface</hardwareInterface>
        </joint>
        <actuator name="right_front_roller_1_2_motor">
            <hardwareInterface>hardware_interface/EffortJointInterface</hardwareInterface>
            <mechanismReduction>1</mechanismReduction>
            <mechanicalReduction>1</mechanicalReduction>
        </actuator>
    </transmission>
    <!-- <gazebo reference="${joint_name}_link">
        <selfCollide>0</selfCollide>
        <kp>1000000</kp>
        <kd>100</kd>
      </gazebo> -->
    <link name="right_front_roller_1_1_link">
        <visual>
            <origin rpy="0 0 0" xyz="-0.002 0 0" />
            <geometry>
                <mesh filename="package://omnibot_platform_description/meshes/wheel_roller2.dae" scale="0.001 0.001 0.001" />
            </geometry>
        </visual>
        <collision>
            <origin rpy="0 0 0" xyz="-0.002 0 0" />
            <geometry>
                <mesh filename="package://omnibot_platform_description/meshes/wheel_roller2.dae" scale="0.001 0.001 0.001" />
            </geometry>
        </collision>
        <inertial>
            <origin rpy="0 0 0" xyz="-0.002 0 0" />
            <mass value="0.3" />
            <inertia ixx="0.00024000" ixy="0.0" ixz="0.0" iyy="0.00076000" iyz="0.0" izz="0.00076000" />
        </inertial>
        <surface>
            <friction>
                <ode>
                    <mu1>10.2</mu1>
                    <mu2>10.2</mu2>
                    <kp>1e15</kp>
                    <kd>1e13</kd>
                </ode>
            </friction>
            <bounce>
                <restitution_coefficient>0.01</restitution_coefficient>
                <threshold>0</threshold>
            </bounce>
            <contact>
                <ode>
                    <max_vel>100</max_vel>
                </ode>
            </contact>
        </surface>
    </link>
    <joint name="right_front_roller_1_1_joint" type="continuous">
        <origin rpy="-0.0 -0.7853981633974482 -0.0" xyz="0 0.040293 0.0" />
        <axis xyz="1 0 0" />
        <parent link="right_front_mecanum_wheel_link" />
        <child link="right_front_roller_1_1_link" />
        <!-- <safety_controller k_velocity="10.0" /> -->
        <dynamics damping="0.001" friction="0.0001" />
    </joint>
    <transmission name="right_front_roller_1_1_trans">
        <type>transmission_interface/SimpleTransmission</type>
        <joint name="right_front_roller_1_1_joint">
            <hardwareInterface>hardware_interface/EffortJointInterface</hardwareInterface>
        </joint>
        <actuator name="right_front_roller_1_1_motor">
            <hardwareInterface>hardware_interface/EffortJointInterface</hardwareInterface>
            <mechanismReduction>1</mechanismReduction>
            <mechanicalReduction>1</mechanicalReduction>
        </actuator>
    </transmission>
    <!-- <gazebo reference="${joint_name}_link">
        <selfCollide>0</selfCollide>
        <kp>1000000</kp>
        <kd>100</kd>
      </gazebo> -->
    <link name="right_front_roller_2_7_link">
        <visual>
            <origin rpy="0 0 0" xyz="-0.002 0 0" />
            <geometry>
                <mesh filename="package://omnibot_platform_description/meshes/wheel_roller2.dae" scale="0.001 0.001 0.001" />
            </geometry>
        </visual>
        <collision>
            <origin rpy="0 0 0" xyz="-0.002 0 0" />
            <geometry>
                <mesh filename="package://omnibot_platform_description/meshes/wheel_roller2.dae" scale="0.001 0.001 0.001" />
            </geometry>
        </collision>
        <inertial>
            <origin rpy="0 0 0" xyz="-0.002 0 0" />
            <mass value="0.3" />
            <inertia ixx="0.00024000" ixy="0.0" ixz="0.0" iyy="0.00076000" iyz="0.0" izz="0.00076000" />
        </inertial>
        <surface>
            <friction>
                <ode>
                    <mu1>10.2</mu1>
                    <mu2>10.2</mu2>
                    <kp>1e15</kp>
                    <kd>1e13</kd>
                </ode>
            </friction>
            <bounce>
                <restitution_coefficient>0.01</restitution_coefficient>
                <threshold>0</threshold>
            </bounce>
            <contact>
                <ode>
                    <max_vel>100</max_vel>
                </ode>
            </contact>
        </surface>
    </link>
    <joint name="right_front_roller_2_7_joint" type="continuous">
        <origin rpy="4.197344880530324 2.683427966208279 0.6635639812413235" xyz="0 0.025122274586293944 -0.03150233592308433" />
        <axis xyz="1 0 0" />
        <parent link="right_front_mecanum_wheel_link" />
        <child link="right_front_roller_2_7_link" />
        <!-- <safety_controller k_velocity="10.0" /> -->
        <dynamics damping="0.001" friction="0.0001" />
    </joint>
    <transmission name="right_front_roller_2_7_trans">
        <type>transmission_interface/SimpleTransmission</type>
        <joint name="right_front_roller_2_7_joint">
            <hardwareInterface>hardware_interface/EffortJointInterface</hardwareInterface>
        </joint>
        <actuator name="right_front_roller_2_7_motor">
            <hardwareInterface>hardware_interface/EffortJointInterface</hardwareInterface>
            <mechanismReduction>1</mechanismReduction>
            <mechanicalReduction>1</mechanicalReduction>
        </actuator>
    </transmission>
    <!-- <gazebo reference="${joint_name}_link">
        <selfCollide>0</selfCollide>
        <kp>1000000</kp>
        <kd>100</kd>
      </gazebo> -->
    <link name="right_front_roller_2_6_link">
        <visual>
            <origin rpy="0 0 0" xyz="-0.002 0 0" />
            <geometry>
                <mesh filename="package://omnibot_platform_description/meshes/wheel_roller2.dae" scale="0.001 0.001 0.001" />
            </geometry>
        </visual>
        <collision>
            <origin rpy="0 0 0" xyz="-0.002 0 0" />
            <geometry>
                <mesh filename="package://omnibot_platform_description/meshes/wheel_roller2.dae" scale="0.001 0.001 0.001" />
            </geometry>
        </collision>
        <inertial>
            <origin rpy="0 0 0" xyz="-0.002 0 0" />
            <mass value="0.3" />
            <inertia ixx="0.00024000" ixy="0.0" ixz="0.0" iyy="0.00076000" iyz="0.0" izz="0.00076000" />
        </inertial>
        <surface>
            <friction>
                <ode>
                    <mu1>10.2</mu1>
                    <mu2>10.2</mu2>
                    <kp>1e15</kp>
                    <kd>1e13</kd>
                </ode>
            </friction>
            <bounce>
                <restitution_coefficient>0.01</restitution_coefficient>
                <threshold>0</threshold>
            </bounce>
            <contact>
                <ode>
                    <max_vel>100</max_vel>
                </ode>
            </contact>
        </surface>
    </link>
    <joint name="right_front_roller_2_6_joint" type="continuous">
        <origin rpy="1.729216389764413 3.2980026597596517 0.7727036539648158" xyz="0 -0.008966035991901749 -0.03928277036554222" />
        <axis xyz="1 0 0" />
        <parent link="right_front_mecanum_wheel_link" />
        <child link="right_front_roller_2_6_link" />
        <!-- <safety_controller k_velocity="10.0" /> -->
        <dynamics damping="0.001" friction="0.0001" />
    </joint>
    <transmission name="right_front_roller_2_6_trans">
        <type>transmission_interface/SimpleTransmission</type>
        <joint name="right_front_roller_2_6_joint">
            <hardwareInterface>hardware_interface/EffortJointInterface</hardwareInterface>
        </joint>
        <actuator name="right_front_roller_2_6_motor">
            <hardwareInterface>hardware_interface/EffortJointInterface</hardwareInterface>
            <mechanismReduction>1</mechanismReduction>
            <mechanicalReduction>1</mechanicalReduction>
        </actuator>
    </transmission>
    <!-- <gazebo reference="${joint_name}_link">
        <selfCollide>0</selfCollide>
        <kp>1000000</kp>
        <kd>100</kd>
      </gazebo> -->
    <link name="right_front_roller_2_5_link">
        <visual>
            <origin rpy="0 0 0" xyz="-0.002 0 0" />
            <geometry>
                <mesh filename="package://omnibot_platform_description/meshes/wheel_roller2.dae" scale="0.001 0.001 0.001" />
            </geometry>
        </visual>
        <collision>
            <origin rpy="0 0 0" xyz="-0.002 0 0" />
            <geometry>
                <mesh filename="package://omnibot_platform_description/meshes/wheel_roller2.dae" scale="0.001 0.001 0.001" />
            </geometry>
        </collision>
        <inertial>
            <origin rpy="0 0 0" xyz="-0.002 0 0" />
            <mass value="0.3" />
            <inertia ixx="0.00024000" ixy="0.0" ixz="0.0" iyy="0.00076000" iyz="0.0" izz="0.00076000" />
        </inertial>
        <surface>
            <friction>
                <ode>
                    <mu1>10.2</mu1>
                    <mu2>10.2</mu2>
                    <kp>1e15</kp>
                    <kd>1e13</kd>
                </ode>
            </friction>
            <bounce>
                <restitution_coefficient>0.01</restitution_coefficient>
                <threshold>0</threshold>
            </bounce>
            <contact>
                <ode>
                    <max_vel>100</max_vel>
                </ode>
            </contact>
        </surface>
    </link>
    <joint name="right_front_roller_2_5_joint" type="continuous">
        <origin rpy="2.542106133715874 3.8307055756402475 0.4093711270983411" xyz="0 -0.036302738594392175 -0.017482477500263768" />
        <axis xyz="1 0 0" />
        <parent link="right_front_mecanum_wheel_link" />
        <child link="right_front_roller_2_5_link" />
        <!-- <safety_controller k_velocity="10.0" /> -->
        <dynamics damping="0.001" friction="0.0001" />
    </joint>
    <transmission name="right_front_roller_2_5_trans">
        <type>transmission_interface/SimpleTransmission</type>
        <joint name="right_front_roller_2_5_joint">
            <hardwareInterface>hardware_interface/EffortJointInterface</hardwareInterface>
        </joint>
        <actuator name="right_front_roller_2_5_motor">
            <hardwareInterface>hardware_interface/EffortJointInterface</hardwareInterface>
            <mechanismReduction>1</mechanismReduction>
            <mechanicalReduction>1</mechanicalReduction>
        </actuator>
    </transmission>
    <!-- <gazebo reference="${joint_name}_link">
        <selfCollide>0</selfCollide>
        <kp>1000000</kp>
        <kd>100</kd>
      </gazebo> -->
    <link name="right_front_roller_2_4_link">
        <visual>
            <origin rpy="0 0 0" xyz="-0.002 0 0" />
            <geometry>
                <mesh filename="package://omnibot_platform_description/meshes/wheel_roller2.dae" scale="0.001 0.001 0.001" />
            </geometry>
        </visual>
        <collision>
            <origin rpy="0 0 0" xyz="-0.002 0 0" />
            <geometry>
                <mesh filename="package://omnibot_platform_description/meshes/wheel_roller2.dae" scale="0.001 0.001 0.001" />
            </geometry>
        </collision>
        <inertial>
            <origin rpy="0 0 0" xyz="-0.002 0 0" />
            <mass value="0.3" />
            <inertia ixx="0.00024000" ixy="0.0" ixz="0.0" iyy="0.00076000" iyz="0.0" izz="0.00076000" />
        </inertial>
        <surface>
            <friction>
                <ode>
                    <mu1>10.2</mu1>
                    <mu2>10.2</mu2>
                    <kp>1e15</kp>
                    <kd>1e13</kd>
                </ode>
            </friction>
            <bounce>
                <restitution_coefficient>0.01</restitution_coefficient>
                <threshold>0</threshold>
            </bounce>
            <contact>
                <ode>
                    <max_vel>100</max_vel>
                </ode>
            </contact>
        </surface>
    </link>
    <joint name="right_front_roller_2_4_joint" type="continuous">
        <origin rpy="3.737893866284127 3.8307055756402475 -0.4093711270983413" xyz="0 -0.036302738594392175 0.017482477500263775" />
        <axis xyz="1 0 0" />
        <parent link="right_front_mecanum_wheel_link" />
        <child link="right_front_roller_2_4_link" />
        <!-- <safety_controller k_velocity="10.0" /> -->
        <dynamics damping="0.001" friction="0.0001" />
    </joint>
    <transmission name="right_front_roller_2_4_trans">
        <type>transmission_interface/SimpleTransmission</type>
        <joint name="right_front_roller_2_4_joint">
            <hardwareInterface>hardware_interface/EffortJointInterface</hardwareInterface>
        </joint>
        <actuator name="right_front_roller_2_4_motor">
            <hardwareInterface>hardware_interface/EffortJointInterface</hardwareInterface>
            <mechanismReduction>1</mechanismReduction>
            <mechanicalReduction>1</mechanicalReduction>
        </actuator>
    </transmission>
    <!-- <gazebo reference="${joint_name}_link">
        <selfCollide>0</selfCollide>
        <kp>1000000</kp>
        <kd>100</kd>
      </gazebo> -->
    <link name="right_front_roller_2_3_link">
        <visual>
            <origin rpy="0 0 0" xyz="-0.002 0 0" />
            <geometry>
                <mesh filename="package://omnibot_platform_description/meshes/wheel_roller2.dae" scale="0.001 0.001 0.001" />
            </geometry>
        </visual>
        <collision>
            <origin rpy="0 0 0" xyz="-0.002 0 0" />
            <geometry>
                <mesh filename="package://omnibot_platform_description/meshes/wheel_roller2.dae" scale="0.001 0.001 0.001" />
            </geometry>
        </collision>
        <inertial>
            <origin rpy="0 0 0" xyz="-0.002 0 0" />
            <mass value="0.3" />
            <inertia ixx="0.00024000" ixy="0.0" ixz="0.0" iyy="0.00076000" iyz="0.0" izz="0.00076000" />
        </inertial>
        <surface>
            <friction>
                <ode>
                    <mu1>10.2</mu1>
                    <mu2>10.2</mu2>
                    <kp>1e15</kp>
                    <kd>1e13</kd>
                </ode>
            </friction>
            <bounce>
                <restitution_coefficient>0.01</restitution_coefficient>
                <threshold>0</threshold>
            </bounce>
            <contact>
                <ode>
                    <max_vel>100</max_vel>
                </ode>
            </contact>
        </surface>
    </link>
    <joint name="right_front_roller_2_3_joint" type="continuous">
        <origin rpy="4.5507836102355865 3.298002659759652 -0.7727036539648157" xyz="0 -0.008966035991901775 0.03928277036554222" />
        <axis xyz="1 0 0" />
        <parent link="right_front_mecanum_wheel_link" />
        <child link="right_front_roller_2_3_link" />
        <!-- <safety_controller k_velocity="10.0" /> -->
        <dynamics damping="0.001" friction="0.0001" />
    </joint>
    <transmission name="right_front_roller_2_3_trans">
        <type>transmission_interface/SimpleTransmission</type>
        <joint name="right_front_roller_2_3_joint">
            <hardwareInterface>hardware_interface/EffortJointInterface</hardwareInterface>
        </joint>
        <actuator name="right_front_roller_2_3_motor">
            <hardwareInterface>hardware_interface/EffortJointInterface</hardwareInterface>
            <mechanismReduction>1</mechanismReduction>
            <mechanicalReduction>1</mechanicalReduction>
        </actuator>
    </transmission>
    <!-- <gazebo reference="${joint_name}_link">
        <selfCollide>0</selfCollide>
        <kp>1000000</kp>
        <kd>100</kd>
      </gazebo> -->
    <link name="right_front_roller_2_2_link">
        <visual>
            <origin rpy="0 0 0" xyz="-0.002 0 0" />
            <geometry>
                <mesh filename="package://omnibot_platform_description/meshes/wheel_roller2.dae" scale="0.001 0.001 0.001" />
            </geometry>
        </visual>
        <collision>
            <origin rpy="0 0 0" xyz="-0.002 0 0" />
            <geometry>
                <mesh filename="package://omnibot_platform_description/meshes/wheel_roller2.dae" scale="0.001 0.001 0.001" />
            </geometry>
        </collision>
        <inertial>
            <origin rpy="0 0 0" xyz="-0.002 0 0" />
            <mass value="0.3" />
            <inertia ixx="0.00024000" ixy="0.0" ixz="0.0" iyy="0.00076000" iyz="0.0" izz="0.00076000" />
        </inertial>
        <surface>
            <friction>
                <ode>
                    <mu1>10.2</mu1>
                    <mu2>10.2</mu2>
                    <kp>1e15</kp>
                    <kd>1e13</kd>
                </ode>
            </friction>
            <bounce>
                <restitution_coefficient>0.01</restitution_coefficient>
                <threshold>0</threshold>
            </bounce>
            <contact>
                <ode>
                    <max_vel>100</max_vel>
                </ode>
            </contact>
        </surface>
    </link>
    <joint name="right_front_roller_2_2_joint" type="continuous">
        <origin rpy="2.082655119469676 2.6834279662082787 -0.6635639812413234" xyz="0 0.025122274586293954 0.031502335923084324" />
        <axis xyz="1 0 0" />
        <parent link="right_front_mecanum_wheel_link" />
        <child link="right_front_roller_2_2_link" />
        <!-- <safety_controller k_velocity="10.0" /> -->
        <dynamics damping="0.001" friction="0.0001" />
    </joint>
    <transmission name="right_front_roller_2_2_trans">
        <type>transmission_interface/SimpleTransmission</type>
        <joint name="right_front_roller_2_2_joint">
            <hardwareInterface>hardware_interface/EffortJointInterface</hardwareInterface>
        </joint>
        <actuator name="right_front_roller_2_2_motor">
            <hardwareInterface>hardware_interface/EffortJointInterface</hardwareInterface>
            <mechanismReduction>1</mechanismReduction>
            <mechanicalReduction>1</mechanicalReduction>
        </actuator>
    </transmission>
    <!-- <gazebo reference="${joint_name}_link">
        <selfCollide>0</selfCollide>
        <kp>1000000</kp>
        <kd>100</kd>
      </gazebo> -->
    <link name="right_front_roller_2_1_link">
        <visual>
            <origin rpy="0 0 0" xyz="-0.002 0 0" />
            <geometry>
                <mesh filename="package://omnibot_platform_description/meshes/wheel_roller2.dae" scale="0.001 0.001 0.001" />
            </geometry>
        </visual>
        <collision>
            <origin rpy="0 0 0" xyz="-0.002 0 0" />
            <geometry>
                <mesh filename="package://omnibot_platform_description/meshes/wheel_roller2.dae" scale="0.001 0.001 0.001" />
            </geometry>
        </collision>
        <inertial>
            <origin rpy="0 0 0" xyz="-0.002 0 0" />
            <mass value="0.3" />
            <inertia ixx="0.00024000" ixy="0.0" ixz="0.0" iyy="0.00076000" iyz="0.0" izz="0.00076000" />
        </inertial>
        <surface>
            <friction>
                <ode>
                    <mu1>10.2</mu1>
                    <mu2>10.2</mu2>
                    <kp>1e15</kp>
                    <kd>1e13</kd>
                </ode>
            </friction>
            <bounce>
                <restitution_coefficient>0.01</restitution_coefficient>
                <threshold>0</threshold>
            </bounce>
            <contact>
                <ode>
                    <max_vel>100</max_vel>
                </ode>
            </contact>
        </surface>
    </link>
    <joint name="right_front_roller_2_1_joint" type="continuous">
        <origin rpy="3.14 2.354601836602552 -0.0" xyz="0 0.040293 0.0" />
        <axis xyz="1 0 0" />
        <parent link="right_front_mecanum_wheel_link" />
        <child link="right_front_roller_2_1_link" />
        <!-- <safety_controller k_velocity="10.0" /> -->
        <dynamics damping="0.001" friction="0.0001" />
    </joint>
    <transmission name="right_front_roller_2_1_trans">
        <type>transmission_interface/SimpleTransmission</type>
        <joint name="right_front_roller_2_1_joint">
            <hardwareInterface>hardware_interface/EffortJointInterface</hardwareInterface>
        </joint>
        <actuator name="right_front_roller_2_1_motor">
            <hardwareInterface>hardware_interface/EffortJointInterface</hardwareInterface>
            <mechanismReduction>1</mechanismReduction>
            <mechanicalReduction>1</mechanicalReduction>
        </actuator>
    </transmission>
    <!-- <gazebo reference="${joint_name}_link">
        <selfCollide>0</selfCollide>
        <kp>1000000</kp>
        <kd>100</kd>
      </gazebo> -->
    <transmission name="right_front_mecanum_trans">
        <type>transmission_interface/SimpleTransmission</type>
        <actuator name="right_front_mecanum_motor">
            <mechanicalReduction>1</mechanicalReduction>
            <hardwareInterface>hardware_interface/EffortJointInterface</hardwareInterface>
        </actuator>
        <joint name="right_front_mecanum_joint">
            <hardwareInterface>hardware_interface/VelocityJointInterface</hardwareInterface>
        </joint>
    </transmission>
    <joint name="right_front_mecanum_joint" type="continuous">
        <origin rpy="0.0 0.0 1.57" xyz="0.168 -0.18805 0.0155" />
        <parent link="base_link" />
        <child link="right_front_mecanum_wheel_link" />
        <axis xyz="1 0 0" />
        <limit effort="1000.0" lower="-3.14" upper="3.14" velocity="100.0" />
    </joint>
    <link name="left_back_mecanum_wheel_link">
        <visual>
            <origin rpy="0 0 -1.57" xyz="0 0 0" />
            <geometry>
                <mesh filename="package://omnibot_platform_description/meshes/wheel_base.dae" scale="-0.001 0.001 0.001" />
            </geometry>
        </visual>
        <collision>
            <origin rpy="0 0 -1.57" xyz="0 0 0" />
            <geometry>
                <mesh filename="package://omnibot_platform_description/meshes/wheel_base.dae" scale="-0.001 0.001 0.001" />
            </geometry>
        </collision>
        <inertial>
            <origin rpy="0 0 0" xyz="0 0 0" />
            <mass value="0.25" />
            <inertia ixx="0.0031" ixy="0" ixz="0" iyy="0.005" iyz="0" izz="0.0031" />
        </inertial>
    </link>
    <joint name="left_back_adapter_connector_joint" type="fixed">
        <parent link="left_back_mecanum_wheel_link" />
        <child link="left_back_mecanum_adapter_link" />
        <origin rpy="0 0 -1.57" xyz="0 0 0" />
    </joint>
    <link name="left_back_mecanum_adapter_link">
        <visual>
            <origin rpy="0 0 -1.57" xyz="0 0.035 0" />
            <geometry>
                <mesh filename="package://omnibot_platform_description/meshes/adapter.dae" scale="-0.001 0.001 0.001" />
            </geometry>
        </visual>
        <collision>
            <origin rpy="0 0 -1.57" xyz="0 0.035 0" />
            <geometry>
                <mesh filename="package://omnibot_platform_description/meshes/adapter.dae" scale="-0.001 0.001 0.001" />
            </geometry>
        </collision>
        <inertial>
            <origin rpy="0 0 0" xyz="0 0 0" />
            <mass value="0.005" />
            <inertia ixx="0.00001" ixy="0.0" ixz="0.0" iyy="0.00001" iyz="0.0" izz="0.00001" />
        </inertial>
    </link>
    <gazebo reference="left_back_wheel_link">
        <mu1 value="0.6" />
        <mu2 value="0.6" />
        <kp value="10000000.0" />
        <kd value="1.0" />
        <fdir1 value="0 1 0" />
    </gazebo>
    <link name="left_back_roller_1_7_link">
        <visual>
            <origin rpy="0 0 0" xyz="-0.002 0 0" />
            <geometry>
                <mesh filename="package://omnibot_platform_description/meshes/wheel_roller2.dae" scale="0.001 0.001 0.001" />
            </geometry>
        </visual>
        <collision>
            <origin rpy="0 0 0" xyz="-0.002 0 0" />
            <geometry>
                <mesh filename="package://omnibot_platform_description/meshes/wheel_roller2.dae" scale="0.001 0.001 0.001" />
            </geometry>
        </collision>
        <inertial>
            <origin rpy="0 0 0" xyz="-0.002 0 0" />
            <mass value="0.3" />
            <inertia ixx="0.00024000" ixy="0.0" ixz="0.0" iyy="0.00076000" iyz="0.0" izz="0.00076000" />
        </inertial>
        <surface>
            <friction>
                <ode>
                    <mu1>10.2</mu1>
                    <mu2>10.2</mu2>
                    <kp>1e15</kp>
                    <kd>1e13</kd>
                </ode>
            </friction>
            <bounce>
                <restitution_coefficient>0.01</restitution_coefficient>
                <threshold>0</threshold>
            </bounce>
            <contact>
                <ode>
                    <max_vel>100</max_vel>
                </ode>
            </contact>
        </surface>
    </link>
    <joint name="left_back_roller_1_7_joint" type="continuous">
        <origin rpy="1.0573448805303245 -0.4565720337917211 0.6635639812413235" xyz="0 0.025122274586293944 -0.03150233592308433" />
        <axis xyz="1 0 0" />
        <parent link="left_back_mecanum_wheel_link" />
        <child link="left_back_roller_1_7_link" />
        <!-- <safety_controller k_velocity="10.0" /> -->
        <dynamics damping="0.001" friction="0.0001" />
    </joint>
    <transmission name="left_back_roller_1_7_trans">
        <type>transmission_interface/SimpleTransmission</type>
        <joint name="left_back_roller_1_7_joint">
            <hardwareInterface>hardware_interface/EffortJointInterface</hardwareInterface>
        </joint>
        <actuator name="left_back_roller_1_7_motor">
            <hardwareInterface>hardware_interface/EffortJointInterface</hardwareInterface>
            <mechanismReduction>1</mechanismReduction>
            <mechanicalReduction>1</mechanicalReduction>
        </actuator>
    </transmission>
    <!-- <gazebo reference="${joint_name}_link">
        <selfCollide>0</selfCollide>
        <kp>1000000</kp>
        <kd>100</kd>
      </gazebo> -->
    <link name="left_back_roller_1_6_link">
        <visual>
            <origin rpy="0 0 0" xyz="-0.002 0 0" />
            <geometry>
                <mesh filename="package://omnibot_platform_description/meshes/wheel_roller2.dae" scale="0.001 0.001 0.001" />
            </geometry>
        </visual>
        <collision>
            <origin rpy="0 0 0" xyz="-0.002 0 0" />
            <geometry>
                <mesh filename="package://omnibot_platform_description/meshes/wheel_roller2.dae" scale="0.001 0.001 0.001" />
            </geometry>
        </collision>
        <inertial>
            <origin rpy="0 0 0" xyz="-0.002 0 0" />
            <mass value="0.3" />
            <inertia ixx="0.00024000" ixy="0.0" ixz="0.0" iyy="0.00076000" iyz="0.0" izz="0.00076000" />
        </inertial>
        <surface>
            <friction>
                <ode>
                    <mu1>10.2</mu1>
                    <mu2>10.2</mu2>
                    <kp>1e15</kp>
                    <kd>1e13</kd>
                </ode>
            </friction>
            <bounce>
                <restitution_coefficient>0.01</restitution_coefficient>
                <threshold>0</threshold>
            </bounce>
            <contact>
                <ode>
                    <max_vel>100</max_vel>
                </ode>
            </contact>
        </surface>
    </link>
    <joint name="left_back_roller_1_6_joint" type="continuous">
        <origin rpy="-1.410783610235587 0.15800265975965155 0.7727036539648158" xyz="0 -0.008966035991901749 -0.03928277036554222" />
        <axis xyz="1 0 0" />
        <parent link="left_back_mecanum_wheel_link" />
        <child link="left_back_roller_1_6_link" />
        <!-- <safety_controller k_velocity="10.0" /> -->
        <dynamics damping="0.001" friction="0.0001" />
    </joint>
    <transmission name="left_back_roller_1_6_trans">
        <type>transmission_interface/SimpleTransmission</type>
        <joint name="left_back_roller_1_6_joint">
            <hardwareInterface>hardware_interface/EffortJointInterface</hardwareInterface>
        </joint>
        <actuator name="left_back_roller_1_6_motor">
            <hardwareInterface>hardware_interface/EffortJointInterface</hardwareInterface>
            <mechanismReduction>1</mechanismReduction>
            <mechanicalReduction>1</mechanicalReduction>
        </actuator>
    </transmission>
    <!-- <gazebo reference="${joint_name}_link">
        <selfCollide>0</selfCollide>
        <kp>1000000</kp>
        <kd>100</kd>
      </gazebo> -->
    <link name="left_back_roller_1_5_link">
        <visual>
            <origin rpy="0 0 0" xyz="-0.002 0 0" />
            <geometry>
                <mesh filename="package://omnibot_platform_description/meshes/wheel_roller2.dae" scale="0.001 0.001 0.001" />
            </geometry>
        </visual>
        <collision>
            <origin rpy="0 0 0" xyz="-0.002 0 0" />
            <geometry>
                <mesh filename="package://omnibot_platform_description/meshes/wheel_roller2.dae" scale="0.001 0.001 0.001" />
            </geometry>
        </collision>
        <inertial>
            <origin rpy="0 0 0" xyz="-0.002 0 0" />
            <mass value="0.3" />
            <inertia ixx="0.00024000" ixy="0.0" ixz="0.0" iyy="0.00076000" iyz="0.0" izz="0.00076000" />
        </inertial>
        <surface>
            <friction>
                <ode>
                    <mu1>10.2</mu1>
                    <mu2>10.2</mu2>
                    <kp>1e15</kp>
                    <kd>1e13</kd>
                </ode>
            </friction>
            <bounce>
                <restitution_coefficient>0.01</restitution_coefficient>
                <threshold>0</threshold>
            </bounce>
            <contact>
                <ode>
                    <max_vel>100</max_vel>
                </ode>
            </contact>
        </surface>
    </link>
    <joint name="left_back_roller_1_5_joint" type="continuous">
        <origin rpy="-0.5978938662841263 0.6907055756402474 0.4093711270983411" xyz="0 -0.036302738594392175 -0.017482477500263768" />
        <axis xyz="1 0 0" />
        <parent link="left_back_mecanum_wheel_link" />
        <child link="left_back_roller_1_5_link" />
        <!-- <safety_controller k_velocity="10.0" /> -->
        <dynamics damping="0.001" friction="0.0001" />
    </joint>
    <transmission name="left_back_roller_1_5_trans">
        <type>transmission_interface/SimpleTransmission</type>
        <joint name="left_back_roller_1_5_joint">
            <hardwareInterface>hardware_interface/EffortJointInterface</hardwareInterface>
        </joint>
        <actuator name="left_back_roller_1_5_motor">
            <hardwareInterface>hardware_interface/EffortJointInterface</hardwareInterface>
            <mechanismReduction>1</mechanismReduction>
            <mechanicalReduction>1</mechanicalReduction>
        </actuator>
    </transmission>
    <!-- <gazebo reference="${joint_name}_link">
        <selfCollide>0</selfCollide>
        <kp>1000000</kp>
        <kd>100</kd>
      </gazebo> -->
    <link name="left_back_roller_1_4_link">
        <visual>
            <origin rpy="0 0 0" xyz="-0.002 0 0" />
            <geometry>
                <mesh filename="package://omnibot_platform_description/meshes/wheel_roller2.dae" scale="0.001 0.001 0.001" />
            </geometry>
        </visual>
        <collision>
            <origin rpy="0 0 0" xyz="-0.002 0 0" />
            <geometry>
                <mesh filename="package://omnibot_platform_description/meshes/wheel_roller2.dae" scale="0.001 0.001 0.001" />
            </geometry>
        </collision>
        <inertial>
            <origin rpy="0 0 0" xyz="-0.002 0 0" />
            <mass value="0.3" />
            <inertia ixx="0.00024000" ixy="0.0" ixz="0.0" iyy="0.00076000" iyz="0.0" izz="0.00076000" />
        </inertial>
        <surface>
            <friction>
                <ode>
                    <mu1>10.2</mu1>
                    <mu2>10.2</mu2>
                    <kp>1e15</kp>
                    <kd>1e13</kd>
                </ode>
            </friction>
            <bounce>
                <restitution_coefficient>0.01</restitution_coefficient>
                <threshold>0</threshold>
            </bounce>
            <contact>
                <ode>
                    <max_vel>100</max_vel>
                </ode>
            </contact>
        </surface>
    </link>
    <joint name="left_back_roller_1_4_joint" type="continuous">
        <origin rpy="0.5978938662841266 0.6907055756402473 -0.4093711270983413" xyz="0 -0.036302738594392175 0.017482477500263775" />
        <axis xyz="1 0 0" />
        <parent link="left_back_mecanum_wheel_link" />
        <child link="left_back_roller_1_4_link" />
        <!-- <safety_controller k_velocity="10.0" /> -->
        <dynamics damping="0.001" friction="0.0001" />
    </joint>
    <transmission name="left_back_roller_1_4_trans">
        <type>transmission_interface/SimpleTransmission</type>
        <joint name="left_back_roller_1_4_joint">
            <hardwareInterface>hardware_interface/EffortJointInterface</hardwareInterface>
        </joint>
        <actuator name="left_back_roller_1_4_motor">
            <hardwareInterface>hardware_interface/EffortJointInterface</hardwareInterface>
            <mechanismReduction>1</mechanismReduction>
            <mechanicalReduction>1</mechanicalReduction>
        </actuator>
    </transmission>
    <!-- <gazebo reference="${joint_name}_link">
        <selfCollide>0</selfCollide>
        <kp>1000000</kp>
        <kd>100</kd>
      </gazebo> -->
    <link name="left_back_roller_1_3_link">
        <visual>
            <origin rpy="0 0 0" xyz="-0.002 0 0" />
            <geometry>
                <mesh filename="package://omnibot_platform_description/meshes/wheel_roller2.dae" scale="0.001 0.001 0.001" />
            </geometry>
        </visual>
        <collision>
            <origin rpy="0 0 0" xyz="-0.002 0 0" />
            <geometry>
                <mesh filename="package://omnibot_platform_description/meshes/wheel_roller2.dae" scale="0.001 0.001 0.001" />
            </geometry>
        </collision>
        <inertial>
            <origin rpy="0 0 0" xyz="-0.002 0 0" />
            <mass value="0.3" />
            <inertia ixx="0.00024000" ixy="0.0" ixz="0.0" iyy="0.00076000" iyz="0.0" izz="0.00076000" />
        </inertial>
        <surface>
            <friction>
                <ode>
                    <mu1>10.2</mu1>
                    <mu2>10.2</mu2>
                    <kp>1e15</kp>
                    <kd>1e13</kd>
                </ode>
            </friction>
            <bounce>
                <restitution_coefficient>0.01</restitution_coefficient>
                <threshold>0</threshold>
            </bounce>
            <contact>
                <ode>
                    <max_vel>100</max_vel>
                </ode>
            </contact>
        </surface>
    </link>
    <joint name="left_back_roller_1_3_joint" type="continuous">
        <origin rpy="1.4107836102355866 0.15800265975965203 -0.7727036539648157" xyz="0 -0.008966035991901775 0.03928277036554222" />
        <axis xyz="1 0 0" />
        <parent link="left_back_mecanum_wheel_link" />
        <child link="left_back_roller_1_3_link" />
        <!-- <safety_controller k_velocity="10.0" /> -->
        <dynamics damping="0.001" friction="0.0001" />
    </joint>
    <transmission name="left_back_roller_1_3_trans">
        <type>transmission_interface/SimpleTransmission</type>
        <joint name="left_back_roller_1_3_joint">
            <hardwareInterface>hardware_interface/EffortJointInterface</hardwareInterface>
        </joint>
        <actuator name="left_back_roller_1_3_motor">
            <hardwareInterface>hardware_interface/EffortJointInterface</hardwareInterface>
            <mechanismReduction>1</mechanismReduction>
            <mechanicalReduction>1</mechanicalReduction>
        </actuator>
    </transmission>
    <!-- <gazebo reference="${joint_name}_link">
        <selfCollide>0</selfCollide>
        <kp>1000000</kp>
        <kd>100</kd>
      </gazebo> -->
    <link name="left_back_roller_1_2_link">
        <visual>
            <origin rpy="0 0 0" xyz="-0.002 0 0" />
            <geometry>
                <mesh filename="package://omnibot_platform_description/meshes/wheel_roller2.dae" scale="0.001 0.001 0.001" />
            </geometry>
        </visual>
        <collision>
            <origin rpy="0 0 0" xyz="-0.002 0 0" />
            <geometry>
                <mesh filename="package://omnibot_platform_description/meshes/wheel_roller2.dae" scale="0.001 0.001 0.001" />
            </geometry>
        </collision>
        <inertial>
            <origin rpy="0 0 0" xyz="-0.002 0 0" />
            <mass value="0.3" />
            <inertia ixx="0.00024000" ixy="0.0" ixz="0.0" iyy="0.00076000" iyz="0.0" izz="0.00076000" />
        </inertial>
        <surface>
            <friction>
                <ode>
                    <mu1>10.2</mu1>
                    <mu2>10.2</mu2>
                    <kp>1e15</kp>
                    <kd>1e13</kd>
                </ode>
            </friction>
            <bounce>
                <restitution_coefficient>0.01</restitution_coefficient>
                <threshold>0</threshold>
            </bounce>
            <contact>
                <ode>
                    <max_vel>100</max_vel>
                </ode>
            </contact>
        </surface>
    </link>
    <joint name="left_back_roller_1_2_joint" type="continuous">
        <origin rpy="-1.0573448805303243 -0.4565720337917213 -0.6635639812413234" xyz="0 0.025122274586293954 0.031502335923084324" />
        <axis xyz="1 0 0" />
        <parent link="left_back_mecanum_wheel_link" />
        <child link="left_back_roller_1_2_link" />
        <!-- <safety_controller k_velocity="10.0" /> -->
        <dynamics damping="0.001" friction="0.0001" />
    </joint>
    <transmission name="left_back_roller_1_2_trans">
        <type>transmission_interface/SimpleTransmission</type>
        <joint name="left_back_roller_1_2_joint">
            <hardwareInterface>hardware_interface/EffortJointInterface</hardwareInterface>
        </joint>
        <actuator name="left_back_roller_1_2_motor">
            <hardwareInterface>hardware_interface/EffortJointInterface</hardwareInterface>
            <mechanismReduction>1</mechanismReduction>
            <mechanicalReduction>1</mechanicalReduction>
        </actuator>
    </transmission>
    <!-- <gazebo reference="${joint_name}_link">
        <selfCollide>0</selfCollide>
        <kp>1000000</kp>
        <kd>100</kd>
      </gazebo> -->
    <link name="left_back_roller_1_1_link">
        <visual>
            <origin rpy="0 0 0" xyz="-0.002 0 0" />
            <geometry>
                <mesh filename="package://omnibot_platform_description/meshes/wheel_roller2.dae" scale="0.001 0.001 0.001" />
            </geometry>
        </visual>
        <collision>
            <origin rpy="0 0 0" xyz="-0.002 0 0" />
            <geometry>
                <mesh filename="package://omnibot_platform_description/meshes/wheel_roller2.dae" scale="0.001 0.001 0.001" />
            </geometry>
        </collision>
        <inertial>
            <origin rpy="0 0 0" xyz="-0.002 0 0" />
            <mass value="0.3" />
            <inertia ixx="0.00024000" ixy="0.0" ixz="0.0" iyy="0.00076000" iyz="0.0" izz="0.00076000" />
        </inertial>
        <surface>
            <friction>
                <ode>
                    <mu1>10.2</mu1>
                    <mu2>10.2</mu2>
                    <kp>1e15</kp>
                    <kd>1e13</kd>
                </ode>
            </friction>
            <bounce>
                <restitution_coefficient>0.01</restitution_coefficient>
                <threshold>0</threshold>
            </bounce>
            <contact>
                <ode>
                    <max_vel>100</max_vel>
                </ode>
            </contact>
        </surface>
    </link>
    <joint name="left_back_roller_1_1_joint" type="continuous">
        <origin rpy="-0.0 -0.7853981633974482 -0.0" xyz="0 0.040293 0.0" />
        <axis xyz="1 0 0" />
        <parent link="left_back_mecanum_wheel_link" />
        <child link="left_back_roller_1_1_link" />
        <!-- <safety_controller k_velocity="10.0" /> -->
        <dynamics damping="0.001" friction="0.0001" />
    </joint>
    <transmission name="left_back_roller_1_1_trans">
        <type>transmission_interface/SimpleTransmission</type>
        <joint name="left_back_roller_1_1_joint">
            <hardwareInterface>hardware_interface/EffortJointInterface</hardwareInterface>
        </joint>
        <actuator name="left_back_roller_1_1_motor">
            <hardwareInterface>hardware_interface/EffortJointInterface</hardwareInterface>
            <mechanismReduction>1</mechanismReduction>
            <mechanicalReduction>1</mechanicalReduction>
        </actuator>
    </transmission>
    <!-- <gazebo reference="${joint_name}_link">
        <selfCollide>0</selfCollide>
        <kp>1000000</kp>
        <kd>100</kd>
      </gazebo> -->
    <link name="left_back_roller_2_7_link">
        <visual>
            <origin rpy="0 0 0" xyz="-0.002 0 0" />
            <geometry>
                <mesh filename="package://omnibot_platform_description/meshes/wheel_roller2.dae" scale="0.001 0.001 0.001" />
            </geometry>
        </visual>
        <collision>
            <origin rpy="0 0 0" xyz="-0.002 0 0" />
            <geometry>
                <mesh filename="package://omnibot_platform_description/meshes/wheel_roller2.dae" scale="0.001 0.001 0.001" />
            </geometry>
        </collision>
        <inertial>
            <origin rpy="0 0 0" xyz="-0.002 0 0" />
            <mass value="0.3" />
            <inertia ixx="0.00024000" ixy="0.0" ixz="0.0" iyy="0.00076000" iyz="0.0" izz="0.00076000" />
        </inertial>
        <surface>
            <friction>
                <ode>
                    <mu1>10.2</mu1>
                    <mu2>10.2</mu2>
                    <kp>1e15</kp>
                    <kd>1e13</kd>
                </ode>
            </friction>
            <bounce>
                <restitution_coefficient>0.01</restitution_coefficient>
                <threshold>0</threshold>
            </bounce>
            <contact>
                <ode>
                    <max_vel>100</max_vel>
                </ode>
            </contact>
        </surface>
    </link>
    <joint name="left_back_roller_2_7_joint" type="continuous">
        <origin rpy="4.197344880530324 2.683427966208279 0.6635639812413235" xyz="0 0.025122274586293944 -0.03150233592308433" />
        <axis xyz="1 0 0" />
        <parent link="left_back_mecanum_wheel_link" />
        <child link="left_back_roller_2_7_link" />
        <!-- <safety_controller k_velocity="10.0" /> -->
        <dynamics damping="0.001" friction="0.0001" />
    </joint>
    <transmission name="left_back_roller_2_7_trans">
        <type>transmission_interface/SimpleTransmission</type>
        <joint name="left_back_roller_2_7_joint">
            <hardwareInterface>hardware_interface/EffortJointInterface</hardwareInterface>
        </joint>
        <actuator name="left_back_roller_2_7_motor">
            <hardwareInterface>hardware_interface/EffortJointInterface</hardwareInterface>
            <mechanismReduction>1</mechanismReduction>
            <mechanicalReduction>1</mechanicalReduction>
        </actuator>
    </transmission>
    <!-- <gazebo reference="${joint_name}_link">
        <selfCollide>0</selfCollide>
        <kp>1000000</kp>
        <kd>100</kd>
      </gazebo> -->
    <link name="left_back_roller_2_6_link">
        <visual>
            <origin rpy="0 0 0" xyz="-0.002 0 0" />
            <geometry>
                <mesh filename="package://omnibot_platform_description/meshes/wheel_roller2.dae" scale="0.001 0.001 0.001" />
            </geometry>
        </visual>
        <collision>
            <origin rpy="0 0 0" xyz="-0.002 0 0" />
            <geometry>
                <mesh filename="package://omnibot_platform_description/meshes/wheel_roller2.dae" scale="0.001 0.001 0.001" />
            </geometry>
        </collision>
        <inertial>
            <origin rpy="0 0 0" xyz="-0.002 0 0" />
            <mass value="0.3" />
            <inertia ixx="0.00024000" ixy="0.0" ixz="0.0" iyy="0.00076000" iyz="0.0" izz="0.00076000" />
        </inertial>
        <surface>
            <friction>
                <ode>
                    <mu1>10.2</mu1>
                    <mu2>10.2</mu2>
                    <kp>1e15</kp>
                    <kd>1e13</kd>
                </ode>
            </friction>
            <bounce>
                <restitution_coefficient>0.01</restitution_coefficient>
                <threshold>0</threshold>
            </bounce>
            <contact>
                <ode>
                    <max_vel>100</max_vel>
                </ode>
            </contact>
        </surface>
    </link>
    <joint name="left_back_roller_2_6_joint" type="continuous">
        <origin rpy="1.729216389764413 3.2980026597596517 0.7727036539648158" xyz="0 -0.008966035991901749 -0.03928277036554222" />
        <axis xyz="1 0 0" />
        <parent link="left_back_mecanum_wheel_link" />
        <child link="left_back_roller_2_6_link" />
        <!-- <safety_controller k_velocity="10.0" /> -->
        <dynamics damping="0.001" friction="0.0001" />
    </joint>
    <transmission name="left_back_roller_2_6_trans">
        <type>transmission_interface/SimpleTransmission</type>
        <joint name="left_back_roller_2_6_joint">
            <hardwareInterface>hardware_interface/EffortJointInterface</hardwareInterface>
        </joint>
        <actuator name="left_back_roller_2_6_motor">
            <hardwareInterface>hardware_interface/EffortJointInterface</hardwareInterface>
            <mechanismReduction>1</mechanismReduction>
            <mechanicalReduction>1</mechanicalReduction>
        </actuator>
    </transmission>
    <!-- <gazebo reference="${joint_name}_link">
        <selfCollide>0</selfCollide>
        <kp>1000000</kp>
        <kd>100</kd>
      </gazebo> -->
    <link name="left_back_roller_2_5_link">
        <visual>
            <origin rpy="0 0 0" xyz="-0.002 0 0" />
            <geometry>
                <mesh filename="package://omnibot_platform_description/meshes/wheel_roller2.dae" scale="0.001 0.001 0.001" />
            </geometry>
        </visual>
        <collision>
            <origin rpy="0 0 0" xyz="-0.002 0 0" />
            <geometry>
                <mesh filename="package://omnibot_platform_description/meshes/wheel_roller2.dae" scale="0.001 0.001 0.001" />
            </geometry>
        </collision>
        <inertial>
            <origin rpy="0 0 0" xyz="-0.002 0 0" />
            <mass value="0.3" />
            <inertia ixx="0.00024000" ixy="0.0" ixz="0.0" iyy="0.00076000" iyz="0.0" izz="0.00076000" />
        </inertial>
        <surface>
            <friction>
                <ode>
                    <mu1>10.2</mu1>
                    <mu2>10.2</mu2>
                    <kp>1e15</kp>
                    <kd>1e13</kd>
                </ode>
            </friction>
            <bounce>
                <restitution_coefficient>0.01</restitution_coefficient>
                <threshold>0</threshold>
            </bounce>
            <contact>
                <ode>
                    <max_vel>100</max_vel>
                </ode>
            </contact>
        </surface>
    </link>
    <joint name="left_back_roller_2_5_joint" type="continuous">
        <origin rpy="2.542106133715874 3.8307055756402475 0.4093711270983411" xyz="0 -0.036302738594392175 -0.017482477500263768" />
        <axis xyz="1 0 0" />
        <parent link="left_back_mecanum_wheel_link" />
        <child link="left_back_roller_2_5_link" />
        <!-- <safety_controller k_velocity="10.0" /> -->
        <dynamics damping="0.001" friction="0.0001" />
    </joint>
    <transmission name="left_back_roller_2_5_trans">
        <type>transmission_interface/SimpleTransmission</type>
        <joint name="left_back_roller_2_5_joint">
            <hardwareInterface>hardware_interface/EffortJointInterface</hardwareInterface>
        </joint>
        <actuator name="left_back_roller_2_5_motor">
            <hardwareInterface>hardware_interface/EffortJointInterface</hardwareInterface>
            <mechanismReduction>1</mechanismReduction>
            <mechanicalReduction>1</mechanicalReduction>
        </actuator>
    </transmission>
    <!-- <gazebo reference="${joint_name}_link">
        <selfCollide>0</selfCollide>
        <kp>1000000</kp>
        <kd>100</kd>
      </gazebo> -->
    <link name="left_back_roller_2_4_link">
        <visual>
            <origin rpy="0 0 0" xyz="-0.002 0 0" />
            <geometry>
                <mesh filename="package://omnibot_platform_description/meshes/wheel_roller2.dae" scale="0.001 0.001 0.001" />
            </geometry>
        </visual>
        <collision>
            <origin rpy="0 0 0" xyz="-0.002 0 0" />
            <geometry>
                <mesh filename="package://omnibot_platform_description/meshes/wheel_roller2.dae" scale="0.001 0.001 0.001" />
            </geometry>
        </collision>
        <inertial>
            <origin rpy="0 0 0" xyz="-0.002 0 0" />
            <mass value="0.3" />
            <inertia ixx="0.00024000" ixy="0.0" ixz="0.0" iyy="0.00076000" iyz="0.0" izz="0.00076000" />
        </inertial>
        <surface>
            <friction>
                <ode>
                    <mu1>10.2</mu1>
                    <mu2>10.2</mu2>
                    <kp>1e15</kp>
                    <kd>1e13</kd>
                </ode>
            </friction>
            <bounce>
                <restitution_coefficient>0.01</restitution_coefficient>
                <threshold>0</threshold>
            </bounce>
            <contact>
                <ode>
                    <max_vel>100</max_vel>
                </ode>
            </contact>
        </surface>
    </link>
    <joint name="left_back_roller_2_4_joint" type="continuous">
        <origin rpy="3.737893866284127 3.8307055756402475 -0.4093711270983413" xyz="0 -0.036302738594392175 0.017482477500263775" />
        <axis xyz="1 0 0" />
        <parent link="left_back_mecanum_wheel_link" />
        <child link="left_back_roller_2_4_link" />
        <!-- <safety_controller k_velocity="10.0" /> -->
        <dynamics damping="0.001" friction="0.0001" />
    </joint>
    <transmission name="left_back_roller_2_4_trans">
        <type>transmission_interface/SimpleTransmission</type>
        <joint name="left_back_roller_2_4_joint">
            <hardwareInterface>hardware_interface/EffortJointInterface</hardwareInterface>
        </joint>
        <actuator name="left_back_roller_2_4_motor">
            <hardwareInterface>hardware_interface/EffortJointInterface</hardwareInterface>
            <mechanismReduction>1</mechanismReduction>
            <mechanicalReduction>1</mechanicalReduction>
        </actuator>
    </transmission>
    <!-- <gazebo reference="${joint_name}_link">
        <selfCollide>0</selfCollide>
        <kp>1000000</kp>
        <kd>100</kd>
      </gazebo> -->
    <link name="left_back_roller_2_3_link">
        <visual>
            <origin rpy="0 0 0" xyz="-0.002 0 0" />
            <geometry>
                <mesh filename="package://omnibot_platform_description/meshes/wheel_roller2.dae" scale="0.001 0.001 0.001" />
            </geometry>
        </visual>
        <collision>
            <origin rpy="0 0 0" xyz="-0.002 0 0" />
            <geometry>
                <mesh filename="package://omnibot_platform_description/meshes/wheel_roller2.dae" scale="0.001 0.001 0.001" />
            </geometry>
        </collision>
        <inertial>
            <origin rpy="0 0 0" xyz="-0.002 0 0" />
            <mass value="0.3" />
            <inertia ixx="0.00024000" ixy="0.0" ixz="0.0" iyy="0.00076000" iyz="0.0" izz="0.00076000" />
        </inertial>
        <surface>
            <friction>
                <ode>
                    <mu1>10.2</mu1>
                    <mu2>10.2</mu2>
                    <kp>1e15</kp>
                    <kd>1e13</kd>
                </ode>
            </friction>
            <bounce>
                <restitution_coefficient>0.01</restitution_coefficient>
                <threshold>0</threshold>
            </bounce>
            <contact>
                <ode>
                    <max_vel>100</max_vel>
                </ode>
            </contact>
        </surface>
    </link>
    <joint name="left_back_roller_2_3_joint" type="continuous">
        <origin rpy="4.5507836102355865 3.298002659759652 -0.7727036539648157" xyz="0 -0.008966035991901775 0.03928277036554222" />
        <axis xyz="1 0 0" />
        <parent link="left_back_mecanum_wheel_link" />
        <child link="left_back_roller_2_3_link" />
        <!-- <safety_controller k_velocity="10.0" /> -->
        <dynamics damping="0.001" friction="0.0001" />
    </joint>
    <transmission name="left_back_roller_2_3_trans">
        <type>transmission_interface/SimpleTransmission</type>
        <joint name="left_back_roller_2_3_joint">
            <hardwareInterface>hardware_interface/EffortJointInterface</hardwareInterface>
        </joint>
        <actuator name="left_back_roller_2_3_motor">
            <hardwareInterface>hardware_interface/EffortJointInterface</hardwareInterface>
            <mechanismReduction>1</mechanismReduction>
            <mechanicalReduction>1</mechanicalReduction>
        </actuator>
    </transmission>
    <!-- <gazebo reference="${joint_name}_link">
        <selfCollide>0</selfCollide>
        <kp>1000000</kp>
        <kd>100</kd>
      </gazebo> -->
    <link name="left_back_roller_2_2_link">
        <visual>
            <origin rpy="0 0 0" xyz="-0.002 0 0" />
            <geometry>
                <mesh filename="package://omnibot_platform_description/meshes/wheel_roller2.dae" scale="0.001 0.001 0.001" />
            </geometry>
        </visual>
        <collision>
            <origin rpy="0 0 0" xyz="-0.002 0 0" />
            <geometry>
                <mesh filename="package://omnibot_platform_description/meshes/wheel_roller2.dae" scale="0.001 0.001 0.001" />
            </geometry>
        </collision>
        <inertial>
            <origin rpy="0 0 0" xyz="-0.002 0 0" />
            <mass value="0.3" />
            <inertia ixx="0.00024000" ixy="0.0" ixz="0.0" iyy="0.00076000" iyz="0.0" izz="0.00076000" />
        </inertial>
        <surface>
            <friction>
                <ode>
                    <mu1>10.2</mu1>
                    <mu2>10.2</mu2>
                    <kp>1e15</kp>
                    <kd>1e13</kd>
                </ode>
            </friction>
            <bounce>
                <restitution_coefficient>0.01</restitution_coefficient>
                <threshold>0</threshold>
            </bounce>
            <contact>
                <ode>
                    <max_vel>100</max_vel>
                </ode>
            </contact>
        </surface>
    </link>
    <joint name="left_back_roller_2_2_joint" type="continuous">
        <origin rpy="2.082655119469676 2.6834279662082787 -0.6635639812413234" xyz="0 0.025122274586293954 0.031502335923084324" />
        <axis xyz="1 0 0" />
        <parent link="left_back_mecanum_wheel_link" />
        <child link="left_back_roller_2_2_link" />
        <!-- <safety_controller k_velocity="10.0" /> -->
        <dynamics damping="0.001" friction="0.0001" />
    </joint>
    <transmission name="left_back_roller_2_2_trans">
        <type>transmission_interface/SimpleTransmission</type>
        <joint name="left_back_roller_2_2_joint">
            <hardwareInterface>hardware_interface/EffortJointInterface</hardwareInterface>
        </joint>
        <actuator name="left_back_roller_2_2_motor">
            <hardwareInterface>hardware_interface/EffortJointInterface</hardwareInterface>
            <mechanismReduction>1</mechanismReduction>
            <mechanicalReduction>1</mechanicalReduction>
        </actuator>
    </transmission>
    <!-- <gazebo reference="${joint_name}_link">
        <selfCollide>0</selfCollide>
        <kp>1000000</kp>
        <kd>100</kd>
      </gazebo> -->
    <link name="left_back_roller_2_1_link">
        <visual>
            <origin rpy="0 0 0" xyz="-0.002 0 0" />
            <geometry>
                <mesh filename="package://omnibot_platform_description/meshes/wheel_roller2.dae" scale="0.001 0.001 0.001" />
            </geometry>
        </visual>
        <collision>
            <origin rpy="0 0 0" xyz="-0.002 0 0" />
            <geometry>
                <mesh filename="package://omnibot_platform_description/meshes/wheel_roller2.dae" scale="0.001 0.001 0.001" />
            </geometry>
        </collision>
        <inertial>
            <origin rpy="0 0 0" xyz="-0.002 0 0" />
            <mass value="0.3" />
            <inertia ixx="0.00024000" ixy="0.0" ixz="0.0" iyy="0.00076000" iyz="0.0" izz="0.00076000" />
        </inertial>
        <surface>
            <friction>
                <ode>
                    <mu1>10.2</mu1>
                    <mu2>10.2</mu2>
                    <kp>1e15</kp>
                    <kd>1e13</kd>
                </ode>
            </friction>
            <bounce>
                <restitution_coefficient>0.01</restitution_coefficient>
                <threshold>0</threshold>
            </bounce>
            <contact>
                <ode>
                    <max_vel>100</max_vel>
                </ode>
            </contact>
        </surface>
    </link>
    <joint name="left_back_roller_2_1_joint" type="continuous">
        <origin rpy="3.14 2.354601836602552 -0.0" xyz="0 0.040293 0.0" />
        <axis xyz="1 0 0" />
        <parent link="left_back_mecanum_wheel_link" />
        <child link="left_back_roller_2_1_link" />
        <!-- <safety_controller k_velocity="10.0" /> -->
        <dynamics damping="0.001" friction="0.0001" />
    </joint>
    <transmission name="left_back_roller_2_1_trans">
        <type>transmission_interface/SimpleTransmission</type>
        <joint name="left_back_roller_2_1_joint">
            <hardwareInterface>hardware_interface/EffortJointInterface</hardwareInterface>
        </joint>
        <actuator name="left_back_roller_2_1_motor">
            <hardwareInterface>hardware_interface/EffortJointInterface</hardwareInterface>
            <mechanismReduction>1</mechanismReduction>
            <mechanicalReduction>1</mechanicalReduction>
        </actuator>
    </transmission>
    <!-- <gazebo reference="${joint_name}_link">
        <selfCollide>0</selfCollide>
        <kp>1000000</kp>
        <kd>100</kd>
      </gazebo> -->
    <transmission name="left_back_mecanum_trans">
        <type>transmission_interface/SimpleTransmission</type>
        <actuator name="left_back_mecanum_motor">
            <mechanicalReduction>1</mechanicalReduction>
            <hardwareInterface>hardware_interface/EffortJointInterface</hardwareInterface>
        </actuator>
        <joint name="left_back_mecanum_joint">
            <hardwareInterface>hardware_interface/VelocityJointInterface</hardwareInterface>
        </joint>
    </transmission>
    <joint name="left_back_mecanum_joint" type="continuous">
        <origin rpy="0.0 0.0 -1.57" xyz="-0.168 0.18805 0.0155" />
        <parent link="base_link" />
        <child link="left_back_mecanum_wheel_link" />
        <axis xyz="1 0 0" />
        <limit effort="1000.0" lower="-3.14" upper="3.14" velocity="100.0" />
    </joint>
    <link name="right_back_mecanum_wheel_link">
        <visual>
            <origin rpy="0 0 1.57" xyz="0 0 0" />
            <geometry>
                <mesh filename="package://omnibot_platform_description/meshes/wheel_base.dae" scale="0.001 0.001 0.001" />
            </geometry>
        </visual>
        <collision>
            <origin rpy="0 0 1.57" xyz="0 0 0" />
            <geometry>
                <mesh filename="package://omnibot_platform_description/meshes/wheel_base.dae" scale="0.001 0.001 0.001" />
            </geometry>
        </collision>
        <inertial>
            <origin rpy="0 0 0" xyz="0 0 0" />
            <mass value="0.25" />
            <inertia ixx="0.0031" ixy="0" ixz="0" iyy="0.005" iyz="0" izz="0.0031" />
        </inertial>
    </link>
    <joint name="right_back_adapter_connector_joint" type="fixed">
        <parent link="right_back_mecanum_wheel_link" />
        <child link="right_back_mecanum_adapter_link" />
        <origin rpy="0 0 1.57" xyz="0 0 0" />
    </joint>
    <link name="right_back_mecanum_adapter_link">
        <visual>
            <origin rpy="0 0 1.57" xyz="0 0.035 0" />
            <geometry>
                <mesh filename="package://omnibot_platform_description/meshes/adapter.dae" scale="0.001 0.001 0.001" />
            </geometry>
        </visual>
        <collision>
            <origin rpy="0 0 1.57" xyz="0 0.035 0" />
            <geometry>
                <mesh filename="package://omnibot_platform_description/meshes/adapter.dae" scale="0.001 0.001 0.001" />
            </geometry>
        </collision>
        <inertial>
            <origin rpy="0 0 0" xyz="0 0 0" />
            <mass value="0.005" />
            <inertia ixx="0.00001" ixy="0.0" ixz="0.0" iyy="0.00001" iyz="0.0" izz="0.00001" />
        </inertial>
    </link>
    <gazebo reference="right_back_wheel_link">
        <mu1 value="0.6" />
        <mu2 value="0.6" />
        <kp value="10000000.0" />
        <kd value="1.0" />
        <fdir1 value="0 1 0" />
    </gazebo>
    <link name="right_back_roller_1_7_link">
        <visual>
            <origin rpy="0 0 0" xyz="-0.002 0 0" />
            <geometry>
                <mesh filename="package://omnibot_platform_description/meshes/wheel_roller2.dae" scale="0.001 0.001 0.001" />
            </geometry>
        </visual>
        <collision>
            <origin rpy="0 0 0" xyz="-0.002 0 0" />
            <geometry>
                <mesh filename="package://omnibot_platform_description/meshes/wheel_roller2.dae" scale="0.001 0.001 0.001" />
            </geometry>
        </collision>
        <inertial>
            <origin rpy="0 0 0" xyz="-0.002 0 0" />
            <mass value="0.3" />
            <inertia ixx="0.00024000" ixy="0.0" ixz="0.0" iyy="0.00076000" iyz="0.0" izz="0.00076000" />
        </inertial>
        <surface>
            <friction>
                <ode>
                    <mu1>10.2</mu1>
                    <mu2>10.2</mu2>
                    <kp>1e15</kp>
                    <kd>1e13</kd>
                </ode>
            </friction>
            <bounce>
                <restitution_coefficient>0.01</restitution_coefficient>
                <threshold>0</threshold>
            </bounce>
            <contact>
                <ode>
                    <max_vel>100</max_vel>
                </ode>
            </contact>
        </surface>
    </link>
    <joint name="right_back_roller_1_7_joint" type="continuous">
        <origin rpy="1.0573448805303245 0.4565720337917211 -0.6635639812413235" xyz="0 0.025122274586293944 -0.03149920859715446" />
        <axis xyz="1 0 0" />
        <parent link="right_back_mecanum_wheel_link" />
        <child link="right_back_roller_1_7_link" />
        <!-- <safety_controller k_velocity="10.0" /> -->
        <dynamics damping="0.001" friction="0.0001" />
    </joint>
    <transmission name="right_back_roller_1_7_trans">
        <type>transmission_interface/SimpleTransmission</type>
        <joint name="right_back_roller_1_7_joint">
            <hardwareInterface>hardware_interface/EffortJointInterface</hardwareInterface>
        </joint>
        <actuator name="right_back_roller_1_7_motor">
            <hardwareInterface>hardware_interface/EffortJointInterface</hardwareInterface>
            <mechanismReduction>1</mechanismReduction>
            <mechanicalReduction>1</mechanicalReduction>
        </actuator>
    </transmission>
    <!-- <gazebo reference="${joint_name}_link">
        <selfCollide>0</selfCollide>
        <kp>1000000</kp>
        <kd>100</kd>
      </gazebo> -->
    <link name="right_back_roller_1_6_link">
        <visual>
            <origin rpy="0 0 0" xyz="-0.002 0 0" />
            <geometry>
                <mesh filename="package://omnibot_platform_description/meshes/wheel_roller2.dae" scale="0.001 0.001 0.001" />
            </geometry>
        </visual>
        <collision>
            <origin rpy="0 0 0" xyz="-0.002 0 0" />
            <geometry>
                <mesh filename="package://omnibot_platform_description/meshes/wheel_roller2.dae" scale="0.001 0.001 0.001" />
            </geometry>
        </collision>
        <inertial>
            <origin rpy="0 0 0" xyz="-0.002 0 0" />
            <mass value="0.3" />
            <inertia ixx="0.00024000" ixy="0.0" ixz="0.0" iyy="0.00076000" iyz="0.0" izz="0.00076000" />
        </inertial>
        <surface>
            <friction>
                <ode>
                    <mu1>10.2</mu1>
                    <mu2>10.2</mu2>
                    <kp>1e15</kp>
                    <kd>1e13</kd>
                </ode>
            </friction>
            <bounce>
                <restitution_coefficient>0.01</restitution_coefficient>
                <threshold>0</threshold>
            </bounce>
            <contact>
                <ode>
                    <max_vel>100</max_vel>
                </ode>
            </contact>
        </surface>
    </link>
    <joint name="right_back_roller_1_6_joint" type="continuous">
        <origin rpy="-1.410783610235587 -0.15800265975965155 -0.7727036539648158" xyz="0 -0.008966035991901749 -0.039278870653893495" />
        <axis xyz="1 0 0" />
        <parent link="right_back_mecanum_wheel_link" />
        <child link="right_back_roller_1_6_link" />
        <!-- <safety_controller k_velocity="10.0" /> -->
        <dynamics damping="0.001" friction="0.0001" />
    </joint>
    <transmission name="right_back_roller_1_6_trans">
        <type>transmission_interface/SimpleTransmission</type>
        <joint name="right_back_roller_1_6_joint">
            <hardwareInterface>hardware_interface/EffortJointInterface</hardwareInterface>
        </joint>
        <actuator name="right_back_roller_1_6_motor">
            <hardwareInterface>hardware_interface/EffortJointInterface</hardwareInterface>
            <mechanismReduction>1</mechanismReduction>
            <mechanicalReduction>1</mechanicalReduction>
        </actuator>
    </transmission>
    <!-- <gazebo reference="${joint_name}_link">
        <selfCollide>0</selfCollide>
        <kp>1000000</kp>
        <kd>100</kd>
      </gazebo> -->
    <link name="right_back_roller_1_5_link">
        <visual>
            <origin rpy="0 0 0" xyz="-0.002 0 0" />
            <geometry>
                <mesh filename="package://omnibot_platform_description/meshes/wheel_roller2.dae" scale="0.001 0.001 0.001" />
            </geometry>
        </visual>
        <collision>
            <origin rpy="0 0 0" xyz="-0.002 0 0" />
            <geometry>
                <mesh filename="package://omnibot_platform_description/meshes/wheel_roller2.dae" scale="0.001 0.001 0.001" />
            </geometry>
        </collision>
        <inertial>
            <origin rpy="0 0 0" xyz="-0.002 0 0" />
            <mass value="0.3" />
            <inertia ixx="0.00024000" ixy="0.0" ixz="0.0" iyy="0.00076000" iyz="0.0" izz="0.00076000" />
        </inertial>
        <surface>
            <friction>
                <ode>
                    <mu1>10.2</mu1>
                    <mu2>10.2</mu2>
                    <kp>1e15</kp>
                    <kd>1e13</kd>
                </ode>
            </friction>
            <bounce>
                <restitution_coefficient>0.01</restitution_coefficient>
                <threshold>0</threshold>
            </bounce>
            <contact>
                <ode>
                    <max_vel>100</max_vel>
                </ode>
            </contact>
        </surface>
    </link>
    <joint name="right_back_roller_1_5_joint" type="continuous">
        <origin rpy="-0.5978938662841263 -0.6907055756402474 -0.4093711270983411" xyz="0 -0.036302738594392175 -0.017480741965307293" />
        <axis xyz="1 0 0" />
        <parent link="right_back_mecanum_wheel_link" />
        <child link="right_back_roller_1_5_link" />
        <!-- <safety_controller k_velocity="10.0" /> -->
        <dynamics damping="0.001" friction="0.0001" />
    </joint>
    <transmission name="right_back_roller_1_5_trans">
        <type>transmission_interface/SimpleTransmission</type>
        <joint name="right_back_roller_1_5_joint">
            <hardwareInterface>hardware_interface/EffortJointInterface</hardwareInterface>
        </joint>
        <actuator name="right_back_roller_1_5_motor">
            <hardwareInterface>hardware_interface/EffortJointInterface</hardwareInterface>
            <mechanismReduction>1</mechanismReduction>
            <mechanicalReduction>1</mechanicalReduction>
        </actuator>
    </transmission>
    <!-- <gazebo reference="${joint_name}_link">
        <selfCollide>0</selfCollide>
        <kp>1000000</kp>
        <kd>100</kd>
      </gazebo> -->
    <link name="right_back_roller_1_4_link">
        <visual>
            <origin rpy="0 0 0" xyz="-0.002 0 0" />
            <geometry>
                <mesh filename="package://omnibot_platform_description/meshes/wheel_roller2.dae" scale="0.001 0.001 0.001" />
            </geometry>
        </visual>
        <collision>
            <origin rpy="0 0 0" xyz="-0.002 0 0" />
            <geometry>
                <mesh filename="package://omnibot_platform_description/meshes/wheel_roller2.dae" scale="0.001 0.001 0.001" />
            </geometry>
        </collision>
        <inertial>
            <origin rpy="0 0 0" xyz="-0.002 0 0" />
            <mass value="0.3" />
            <inertia ixx="0.00024000" ixy="0.0" ixz="0.0" iyy="0.00076000" iyz="0.0" izz="0.00076000" />
        </inertial>
        <surface>
            <friction>
                <ode>
                    <mu1>10.2</mu1>
                    <mu2>10.2</mu2>
                    <kp>1e15</kp>
                    <kd>1e13</kd>
                </ode>
            </friction>
            <bounce>
                <restitution_coefficient>0.01</restitution_coefficient>
                <threshold>0</threshold>
            </bounce>
            <contact>
                <ode>
                    <max_vel>100</max_vel>
                </ode>
            </contact>
        </surface>
    </link>
    <joint name="right_back_roller_1_4_joint" type="continuous">
        <origin rpy="0.5978938662841266 -0.6907055756402473 0.4093711270983413" xyz="0 -0.036302738594392175 0.017480741965307304" />
        <axis xyz="1 0 0" />
        <parent link="right_back_mecanum_wheel_link" />
        <child link="right_back_roller_1_4_link" />
        <!-- <safety_controller k_velocity="10.0" /> -->
        <dynamics damping="0.001" friction="0.0001" />
    </joint>
    <transmission name="right_back_roller_1_4_trans">
        <type>transmission_interface/SimpleTransmission</type>
        <joint name="right_back_roller_1_4_joint">
            <hardwareInterface>hardware_interface/EffortJointInterface</hardwareInterface>
        </joint>
        <actuator name="right_back_roller_1_4_motor">
            <hardwareInterface>hardware_interface/EffortJointInterface</hardwareInterface>
            <mechanismReduction>1</mechanismReduction>
            <mechanicalReduction>1</mechanicalReduction>
        </actuator>
    </transmission>
    <!-- <gazebo reference="${joint_name}_link">
        <selfCollide>0</selfCollide>
        <kp>1000000</kp>
        <kd>100</kd>
      </gazebo> -->
    <link name="right_back_roller_1_3_link">
        <visual>
            <origin rpy="0 0 0" xyz="-0.002 0 0" />
            <geometry>
                <mesh filename="package://omnibot_platform_description/meshes/wheel_roller2.dae" scale="0.001 0.001 0.001" />
            </geometry>
        </visual>
        <collision>
            <origin rpy="0 0 0" xyz="-0.002 0 0" />
            <geometry>
                <mesh filename="package://omnibot_platform_description/meshes/wheel_roller2.dae" scale="0.001 0.001 0.001" />
            </geometry>
        </collision>
        <inertial>
            <origin rpy="0 0 0" xyz="-0.002 0 0" />
            <mass value="0.3" />
            <inertia ixx="0.00024000" ixy="0.0" ixz="0.0" iyy="0.00076000" iyz="0.0" izz="0.00076000" />
        </inertial>
        <surface>
            <friction>
                <ode>
                    <mu1>10.2</mu1>
                    <mu2>10.2</mu2>
                    <kp>1e15</kp>
                    <kd>1e13</kd>
                </ode>
            </friction>
            <bounce>
                <restitution_coefficient>0.01</restitution_coefficient>
                <threshold>0</threshold>
            </bounce>
            <contact>
                <ode>
                    <max_vel>100</max_vel>
                </ode>
            </contact>
        </surface>
    </link>
    <joint name="right_back_roller_1_3_joint" type="continuous">
        <origin rpy="1.4107836102355866 -0.15800265975965203 0.7727036539648157" xyz="0 -0.008966035991901775 0.03927887065389349" />
        <axis xyz="1 0 0" />
        <parent link="right_back_mecanum_wheel_link" />
        <child link="right_back_roller_1_3_link" />
        <!-- <safety_controller k_velocity="10.0" /> -->
        <dynamics damping="0.001" friction="0.0001" />
    </joint>
    <transmission name="right_back_roller_1_3_trans">
        <type>transmission_interface/SimpleTransmission</type>
        <joint name="right_back_roller_1_3_joint">
            <hardwareInterface>hardware_interface/EffortJointInterface</hardwareInterface>
        </joint>
        <actuator name="right_back_roller_1_3_motor">
            <hardwareInterface>hardware_interface/EffortJointInterface</hardwareInterface>
            <mechanismReduction>1</mechanismReduction>
            <mechanicalReduction>1</mechanicalReduction>
        </actuator>
    </transmission>
    <!-- <gazebo reference="${joint_name}_link">
        <selfCollide>0</selfCollide>
        <kp>1000000</kp>
        <kd>100</kd>
      </gazebo> -->
    <link name="right_back_roller_1_2_link">
        <visual>
            <origin rpy="0 0 0" xyz="-0.002 0 0" />
            <geometry>
                <mesh filename="package://omnibot_platform_description/meshes/wheel_roller2.dae" scale="0.001 0.001 0.001" />
            </geometry>
        </visual>
        <collision>
            <origin rpy="0 0 0" xyz="-0.002 0 0" />
            <geometry>
                <mesh filename="package://omnibot_platform_description/meshes/wheel_roller2.dae" scale="0.001 0.001 0.001" />
            </geometry>
        </collision>
        <inertial>
            <origin rpy="0 0 0" xyz="-0.002 0 0" />
            <mass value="0.3" />
            <inertia ixx="0.00024000" ixy="0.0" ixz="0.0" iyy="0.00076000" iyz="0.0" izz="0.00076000" />
        </inertial>
        <surface>
            <friction>
                <ode>
                    <mu1>10.2</mu1>
                    <mu2>10.2</mu2>
                    <kp>1e15</kp>
                    <kd>1e13</kd>
                </ode>
            </friction>
            <bounce>
                <restitution_coefficient>0.01</restitution_coefficient>
                <threshold>0</threshold>
            </bounce>
            <contact>
                <ode>
                    <max_vel>100</max_vel>
                </ode>
            </contact>
        </surface>
    </link>
    <joint name="right_back_roller_1_2_joint" type="continuous">
        <origin rpy="-1.0573448805303243 0.4565720337917213 0.6635639812413234" xyz="0 0.025122274586293954 0.03149920859715445" />
        <axis xyz="1 0 0" />
        <parent link="right_back_mecanum_wheel_link" />
        <child link="right_back_roller_1_2_link" />
        <!-- <safety_controller k_velocity="10.0" /> -->
        <dynamics damping="0.001" friction="0.0001" />
    </joint>
    <transmission name="right_back_roller_1_2_trans">
        <type>transmission_interface/SimpleTransmission</type>
        <joint name="right_back_roller_1_2_joint">
            <hardwareInterface>hardware_interface/EffortJointInterface</hardwareInterface>
        </joint>
        <actuator name="right_back_roller_1_2_motor">
            <hardwareInterface>hardware_interface/EffortJointInterface</hardwareInterface>
            <mechanismReduction>1</mechanismReduction>
            <mechanicalReduction>1</mechanicalReduction>
        </actuator>
    </transmission>
    <!-- <gazebo reference="${joint_name}_link">
        <selfCollide>0</selfCollide>
        <kp>1000000</kp>
        <kd>100</kd>
      </gazebo> -->
    <link name="right_back_roller_1_1_link">
        <visual>
            <origin rpy="0 0 0" xyz="-0.002 0 0" />
            <geometry>
                <mesh filename="package://omnibot_platform_description/meshes/wheel_roller2.dae" scale="0.001 0.001 0.001" />
            </geometry>
        </visual>
        <collision>
            <origin rpy="0 0 0" xyz="-0.002 0 0" />
            <geometry>
                <mesh filename="package://omnibot_platform_description/meshes/wheel_roller2.dae" scale="0.001 0.001 0.001" />
            </geometry>
        </collision>
        <inertial>
            <origin rpy="0 0 0" xyz="-0.002 0 0" />
            <mass value="0.3" />
            <inertia ixx="0.00024000" ixy="0.0" ixz="0.0" iyy="0.00076000" iyz="0.0" izz="0.00076000" />
        </inertial>
        <surface>
            <friction>
                <ode>
                    <mu1>10.2</mu1>
                    <mu2>10.2</mu2>
                    <kp>1e15</kp>
                    <kd>1e13</kd>
                </ode>
            </friction>
            <bounce>
                <restitution_coefficient>0.01</restitution_coefficient>
                <threshold>0</threshold>
            </bounce>
            <contact>
                <ode>
                    <max_vel>100</max_vel>
                </ode>
            </contact>
        </surface>
    </link>
    <joint name="right_back_roller_1_1_joint" type="continuous">
        <origin rpy="-0.0 0.7853981633974482 0.0" xyz="0 0.040293 0.0" />
        <axis xyz="1 0 0" />
        <parent link="right_back_mecanum_wheel_link" />
        <child link="right_back_roller_1_1_link" />
        <!-- <safety_controller k_velocity="10.0" /> -->
        <dynamics damping="0.001" friction="0.0001" />
    </joint>
    <transmission name="right_back_roller_1_1_trans">
        <type>transmission_interface/SimpleTransmission</type>
        <joint name="right_back_roller_1_1_joint">
            <hardwareInterface>hardware_interface/EffortJointInterface</hardwareInterface>
        </joint>
        <actuator name="right_back_roller_1_1_motor">
            <hardwareInterface>hardware_interface/EffortJointInterface</hardwareInterface>
            <mechanismReduction>1</mechanismReduction>
            <mechanicalReduction>1</mechanicalReduction>
        </actuator>
    </transmission>
    <!-- <gazebo reference="${joint_name}_link">
        <selfCollide>0</selfCollide>
        <kp>1000000</kp>
        <kd>100</kd>
      </gazebo> -->
    <link name="right_back_roller_2_7_link">
        <visual>
            <origin rpy="0 0 0" xyz="-0.002 0 0" />
            <geometry>
                <mesh filename="package://omnibot_platform_description/meshes/wheel_roller2.dae" scale="0.001 0.001 0.001" />
            </geometry>
        </visual>
        <collision>
            <origin rpy="0 0 0" xyz="-0.002 0 0" />
            <geometry>
                <mesh filename="package://omnibot_platform_description/meshes/wheel_roller2.dae" scale="0.001 0.001 0.001" />
            </geometry>
        </collision>
        <inertial>
            <origin rpy="0 0 0" xyz="-0.002 0 0" />
            <mass value="0.3" />
            <inertia ixx="0.00024000" ixy="0.0" ixz="0.0" iyy="0.00076000" iyz="0.0" izz="0.00076000" />
        </inertial>
        <surface>
            <friction>
                <ode>
                    <mu1>10.2</mu1>
                    <mu2>10.2</mu2>
                    <kp>1e15</kp>
                    <kd>1e13</kd>
                </ode>
            </friction>
            <bounce>
                <restitution_coefficient>0.01</restitution_coefficient>
                <threshold>0</threshold>
            </bounce>
            <contact>
                <ode>
                    <max_vel>100</max_vel>
                </ode>
            </contact>
        </surface>
    </link>
    <joint name="right_back_roller_2_7_joint" type="continuous">
        <origin rpy="4.197344880530324 3.596572033791721 -0.6635639812413235" xyz="0 0.025122274586293944 -0.03149920859715446" />
        <axis xyz="1 0 0" />
        <parent link="right_back_mecanum_wheel_link" />
        <child link="right_back_roller_2_7_link" />
        <!-- <safety_controller k_velocity="10.0" /> -->
        <dynamics damping="0.001" friction="0.0001" />
    </joint>
    <transmission name="right_back_roller_2_7_trans">
        <type>transmission_interface/SimpleTransmission</type>
        <joint name="right_back_roller_2_7_joint">
            <hardwareInterface>hardware_interface/EffortJointInterface</hardwareInterface>
        </joint>
        <actuator name="right_back_roller_2_7_motor">
            <hardwareInterface>hardware_interface/EffortJointInterface</hardwareInterface>
            <mechanismReduction>1</mechanismReduction>
            <mechanicalReduction>1</mechanicalReduction>
        </actuator>
    </transmission>
    <!-- <gazebo reference="${joint_name}_link">
        <selfCollide>0</selfCollide>
        <kp>1000000</kp>
        <kd>100</kd>
      </gazebo> -->
    <link name="right_back_roller_2_6_link">
        <visual>
            <origin rpy="0 0 0" xyz="-0.002 0 0" />
            <geometry>
                <mesh filename="package://omnibot_platform_description/meshes/wheel_roller2.dae" scale="0.001 0.001 0.001" />
            </geometry>
        </visual>
        <collision>
            <origin rpy="0 0 0" xyz="-0.002 0 0" />
            <geometry>
                <mesh filename="package://omnibot_platform_description/meshes/wheel_roller2.dae" scale="0.001 0.001 0.001" />
            </geometry>
        </collision>
        <inertial>
            <origin rpy="0 0 0" xyz="-0.002 0 0" />
            <mass value="0.3" />
            <inertia ixx="0.00024000" ixy="0.0" ixz="0.0" iyy="0.00076000" iyz="0.0" izz="0.00076000" />
        </inertial>
        <surface>
            <friction>
                <ode>
                    <mu1>10.2</mu1>
                    <mu2>10.2</mu2>
                    <kp>1e15</kp>
                    <kd>1e13</kd>
                </ode>
            </friction>
            <bounce>
                <restitution_coefficient>0.01</restitution_coefficient>
                <threshold>0</threshold>
            </bounce>
            <contact>
                <ode>
                    <max_vel>100</max_vel>
                </ode>
            </contact>
        </surface>
    </link>
    <joint name="right_back_roller_2_6_joint" type="continuous">
        <origin rpy="1.729216389764413 2.9819973402403486 -0.7727036539648158" xyz="0 -0.008966035991901749 -0.039278870653893495" />
        <axis xyz="1 0 0" />
        <parent link="right_back_mecanum_wheel_link" />
        <child link="right_back_roller_2_6_link" />
        <!-- <safety_controller k_velocity="10.0" /> -->
        <dynamics damping="0.001" friction="0.0001" />
    </joint>
    <transmission name="right_back_roller_2_6_trans">
        <type>transmission_interface/SimpleTransmission</type>
        <joint name="right_back_roller_2_6_joint">
            <hardwareInterface>hardware_interface/EffortJointInterface</hardwareInterface>
        </joint>
        <actuator name="right_back_roller_2_6_motor">
            <hardwareInterface>hardware_interface/EffortJointInterface</hardwareInterface>
            <mechanismReduction>1</mechanismReduction>
            <mechanicalReduction>1</mechanicalReduction>
        </actuator>
    </transmission>
    <!-- <gazebo reference="${joint_name}_link">
        <selfCollide>0</selfCollide>
        <kp>1000000</kp>
        <kd>100</kd>
      </gazebo> -->
    <link name="right_back_roller_2_5_link">
        <visual>
            <origin rpy="0 0 0" xyz="-0.002 0 0" />
            <geometry>
                <mesh filename="package://omnibot_platform_description/meshes/wheel_roller2.dae" scale="0.001 0.001 0.001" />
            </geometry>
        </visual>
        <collision>
            <origin rpy="0 0 0" xyz="-0.002 0 0" />
            <geometry>
                <mesh filename="package://omnibot_platform_description/meshes/wheel_roller2.dae" scale="0.001 0.001 0.001" />
            </geometry>
        </collision>
        <inertial>
            <origin rpy="0 0 0" xyz="-0.002 0 0" />
            <mass value="0.3" />
            <inertia ixx="0.00024000" ixy="0.0" ixz="0.0" iyy="0.00076000" iyz="0.0" izz="0.00076000" />
        </inertial>
        <surface>
            <friction>
                <ode>
                    <mu1>10.2</mu1>
                    <mu2>10.2</mu2>
                    <kp>1e15</kp>
                    <kd>1e13</kd>
                </ode>
            </friction>
            <bounce>
                <restitution_coefficient>0.01</restitution_coefficient>
                <threshold>0</threshold>
            </bounce>
            <contact>
                <ode>
                    <max_vel>100</max_vel>
                </ode>
            </contact>
        </surface>
    </link>
    <joint name="right_back_roller_2_5_joint" type="continuous">
        <origin rpy="2.542106133715874 2.4492944243597528 -0.4093711270983411" xyz="0 -0.036302738594392175 -0.017480741965307293" />
        <axis xyz="1 0 0" />
        <parent link="right_back_mecanum_wheel_link" />
        <child link="right_back_roller_2_5_link" />
        <!-- <safety_controller k_velocity="10.0" /> -->
        <dynamics damping="0.001" friction="0.0001" />
    </joint>
    <transmission name="right_back_roller_2_5_trans">
        <type>transmission_interface/SimpleTransmission</type>
        <joint name="right_back_roller_2_5_joint">
            <hardwareInterface>hardware_interface/EffortJointInterface</hardwareInterface>
        </joint>
        <actuator name="right_back_roller_2_5_motor">
            <hardwareInterface>hardware_interface/EffortJointInterface</hardwareInterface>
            <mechanismReduction>1</mechanismReduction>
            <mechanicalReduction>1</mechanicalReduction>
        </actuator>
    </transmission>
    <!-- <gazebo reference="${joint_name}_link">
        <selfCollide>0</selfCollide>
        <kp>1000000</kp>
        <kd>100</kd>
      </gazebo> -->
    <link name="right_back_roller_2_4_link">
        <visual>
            <origin rpy="0 0 0" xyz="-0.002 0 0" />
            <geometry>
                <mesh filename="package://omnibot_platform_description/meshes/wheel_roller2.dae" scale="0.001 0.001 0.001" />
            </geometry>
        </visual>
        <collision>
            <origin rpy="0 0 0" xyz="-0.002 0 0" />
            <geometry>
                <mesh filename="package://omnibot_platform_description/meshes/wheel_roller2.dae" scale="0.001 0.001 0.001" />
            </geometry>
        </collision>
        <inertial>
            <origin rpy="0 0 0" xyz="-0.002 0 0" />
            <mass value="0.3" />
            <inertia ixx="0.00024000" ixy="0.0" ixz="0.0" iyy="0.00076000" iyz="0.0" izz="0.00076000" />
        </inertial>
        <surface>
            <friction>
                <ode>
                    <mu1>10.2</mu1>
                    <mu2>10.2</mu2>
                    <kp>1e15</kp>
                    <kd>1e13</kd>
                </ode>
            </friction>
            <bounce>
                <restitution_coefficient>0.01</restitution_coefficient>
                <threshold>0</threshold>
            </bounce>
            <contact>
                <ode>
                    <max_vel>100</max_vel>
                </ode>
            </contact>
        </surface>
    </link>
    <joint name="right_back_roller_2_4_joint" type="continuous">
        <origin rpy="3.737893866284127 2.4492944243597528 0.4093711270983413" xyz="0 -0.036302738594392175 0.017480741965307304" />
        <axis xyz="1 0 0" />
        <parent link="right_back_mecanum_wheel_link" />
        <child link="right_back_roller_2_4_link" />
        <!-- <safety_controller k_velocity="10.0" /> -->
        <dynamics damping="0.001" friction="0.0001" />
    </joint>
    <transmission name="right_back_roller_2_4_trans">
        <type>transmission_interface/SimpleTransmission</type>
        <joint name="right_back_roller_2_4_joint">
            <hardwareInterface>hardware_interface/EffortJointInterface</hardwareInterface>
        </joint>
        <actuator name="right_back_roller_2_4_motor">
            <hardwareInterface>hardware_interface/EffortJointInterface</hardwareInterface>
            <mechanismReduction>1</mechanismReduction>
            <mechanicalReduction>1</mechanicalReduction>
        </actuator>
    </transmission>
    <!-- <gazebo reference="${joint_name}_link">
        <selfCollide>0</selfCollide>
        <kp>1000000</kp>
        <kd>100</kd>
      </gazebo> -->
    <link name="right_back_roller_2_3_link">
        <visual>
            <origin rpy="0 0 0" xyz="-0.002 0 0" />
            <geometry>
                <mesh filename="package://omnibot_platform_description/meshes/wheel_roller2.dae" scale="0.001 0.001 0.001" />
            </geometry>
        </visual>
        <collision>
            <origin rpy="0 0 0" xyz="-0.002 0 0" />
            <geometry>
                <mesh filename="package://omnibot_platform_description/meshes/wheel_roller2.dae" scale="0.001 0.001 0.001" />
            </geometry>
        </collision>
        <inertial>
            <origin rpy="0 0 0" xyz="-0.002 0 0" />
            <mass value="0.3" />
            <inertia ixx="0.00024000" ixy="0.0" ixz="0.0" iyy="0.00076000" iyz="0.0" izz="0.00076000" />
        </inertial>
        <surface>
            <friction>
                <ode>
                    <mu1>10.2</mu1>
                    <mu2>10.2</mu2>
                    <kp>1e15</kp>
                    <kd>1e13</kd>
                </ode>
            </friction>
            <bounce>
                <restitution_coefficient>0.01</restitution_coefficient>
                <threshold>0</threshold>
            </bounce>
            <contact>
                <ode>
                    <max_vel>100</max_vel>
                </ode>
            </contact>
        </surface>
    </link>
    <joint name="right_back_roller_2_3_joint" type="continuous">
        <origin rpy="4.5507836102355865 2.981997340240348 0.7727036539648157" xyz="0 -0.008966035991901775 0.03927887065389349" />
        <axis xyz="1 0 0" />
        <parent link="right_back_mecanum_wheel_link" />
        <child link="right_back_roller_2_3_link" />
        <!-- <safety_controller k_velocity="10.0" /> -->
        <dynamics damping="0.001" friction="0.0001" />
    </joint>
    <transmission name="right_back_roller_2_3_trans">
        <type>transmission_interface/SimpleTransmission</type>
        <joint name="right_back_roller_2_3_joint">
            <hardwareInterface>hardware_interface/EffortJointInterface</hardwareInterface>
        </joint>
        <actuator name="right_back_roller_2_3_motor">
            <hardwareInterface>hardware_interface/EffortJointInterface</hardwareInterface>
            <mechanismReduction>1</mechanismReduction>
            <mechanicalReduction>1</mechanicalReduction>
        </actuator>
    </transmission>
    <!-- <gazebo reference="${joint_name}_link">
        <selfCollide>0</selfCollide>
        <kp>1000000</kp>
        <kd>100</kd>
      </gazebo> -->
    <link name="right_back_roller_2_2_link">
        <visual>
            <origin rpy="0 0 0" xyz="-0.002 0 0" />
            <geometry>
                <mesh filename="package://omnibot_platform_description/meshes/wheel_roller2.dae" scale="0.001 0.001 0.001" />
            </geometry>
        </visual>
        <collision>
            <origin rpy="0 0 0" xyz="-0.002 0 0" />
            <geometry>
                <mesh filename="package://omnibot_platform_description/meshes/wheel_roller2.dae" scale="0.001 0.001 0.001" />
            </geometry>
        </collision>
        <inertial>
            <origin rpy="0 0 0" xyz="-0.002 0 0" />
            <mass value="0.3" />
            <inertia ixx="0.00024000" ixy="0.0" ixz="0.0" iyy="0.00076000" iyz="0.0" izz="0.00076000" />
        </inertial>
        <surface>
            <friction>
                <ode>
                    <mu1>10.2</mu1>
                    <mu2>10.2</mu2>
                    <kp>1e15</kp>
                    <kd>1e13</kd>
                </ode>
            </friction>
            <bounce>
                <restitution_coefficient>0.01</restitution_coefficient>
                <threshold>0</threshold>
            </bounce>
            <contact>
                <ode>
                    <max_vel>100</max_vel>
                </ode>
            </contact>
        </surface>
    </link>
    <joint name="right_back_roller_2_2_joint" type="continuous">
        <origin rpy="2.082655119469676 3.5965720337917215 0.6635639812413234" xyz="0 0.025122274586293954 0.03149920859715445" />
        <axis xyz="1 0 0" />
        <parent link="right_back_mecanum_wheel_link" />
        <child link="right_back_roller_2_2_link" />
        <!-- <safety_controller k_velocity="10.0" /> -->
        <dynamics damping="0.001" friction="0.0001" />
    </joint>
    <transmission name="right_back_roller_2_2_trans">
        <type>transmission_interface/SimpleTransmission</type>
        <joint name="right_back_roller_2_2_joint">
            <hardwareInterface>hardware_interface/EffortJointInterface</hardwareInterface>
        </joint>
        <actuator name="right_back_roller_2_2_motor">
            <hardwareInterface>hardware_interface/EffortJointInterface</hardwareInterface>
            <mechanismReduction>1</mechanismReduction>
            <mechanicalReduction>1</mechanicalReduction>
        </actuator>
    </transmission>
    <!-- <gazebo reference="${joint_name}_link">
        <selfCollide>0</selfCollide>
        <kp>1000000</kp>
        <kd>100</kd>
      </gazebo> -->
    <link name="right_back_roller_2_1_link">
        <visual>
            <origin rpy="0 0 0" xyz="-0.002 0 0" />
            <geometry>
                <mesh filename="package://omnibot_platform_description/meshes/wheel_roller2.dae" scale="0.001 0.001 0.001" />
            </geometry>
        </visual>
        <collision>
            <origin rpy="0 0 0" xyz="-0.002 0 0" />
            <geometry>
                <mesh filename="package://omnibot_platform_description/meshes/wheel_roller2.dae" scale="0.001 0.001 0.001" />
            </geometry>
        </collision>
        <inertial>
            <origin rpy="0 0 0" xyz="-0.002 0 0" />
            <mass value="0.3" />
            <inertia ixx="0.00024000" ixy="0.0" ixz="0.0" iyy="0.00076000" iyz="0.0" izz="0.00076000" />
        </inertial>
        <surface>
            <friction>
                <ode>
                    <mu1>10.2</mu1>
                    <mu2>10.2</mu2>
                    <kp>1e15</kp>
                    <kd>1e13</kd>
                </ode>
            </friction>
            <bounce>
                <restitution_coefficient>0.01</restitution_coefficient>
                <threshold>0</threshold>
            </bounce>
            <contact>
                <ode>
                    <max_vel>100</max_vel>
                </ode>
            </contact>
        </surface>
    </link>
    <joint name="right_back_roller_2_1_joint" type="continuous">
        <origin rpy="3.14 3.9253981633974484 0.0" xyz="0 0.040293 0.0" />
        <axis xyz="1 0 0" />
        <parent link="right_back_mecanum_wheel_link" />
        <child link="right_back_roller_2_1_link" />
        <!-- <safety_controller k_velocity="10.0" /> -->
        <dynamics damping="0.001" friction="0.0001" />
    </joint>
    <transmission name="right_back_roller_2_1_trans">
        <type>transmission_interface/SimpleTransmission</type>
        <joint name="right_back_roller_2_1_joint">
            <hardwareInterface>hardware_interface/EffortJointInterface</hardwareInterface>
        </joint>
        <actuator name="right_back_roller_2_1_motor">
            <hardwareInterface>hardware_interface/EffortJointInterface</hardwareInterface>
            <mechanismReduction>1</mechanismReduction>
            <mechanicalReduction>1</mechanicalReduction>
        </actuator>
    </transmission>
    <!-- <gazebo reference="${joint_name}_link">
        <selfCollide>0</selfCollide>
        <kp>1000000</kp>
        <kd>100</kd>
      </gazebo> -->
    <transmission name="right_back_mecanum_trans">
        <type>transmission_interface/SimpleTransmission</type>
        <actuator name="right_back_mecanum_motor">
            <mechanicalReduction>1</mechanicalReduction>
            <hardwareInterface>hardware_interface/EffortJointInterface</hardwareInterface>
        </actuator>
        <joint name="right_back_mecanum_joint">
            <hardwareInterface>hardware_interface/VelocityJointInterface</hardwareInterface>
        </joint>
    </transmission>
    <joint name="right_back_mecanum_joint" type="continuous">
        <origin rpy="0.0 0.0 -1.57" xyz="-0.168 -0.18805 0.0155" />
        <parent link="base_link" />
        <child link="right_back_mecanum_wheel_link" />
        <axis xyz="1 0 0" />
        <limit effort="1000.0" lower="-3.14" upper="3.14" velocity="100.0" />
    </joint>
    <material name="t265_aluminum">
        <color rgba="0.5 0.5 0.5 1" />
    </material>
    <!-- camera body, with origin at camera_pose_frame -->
    <joint name="t265_pose_joint" type="fixed">
        <origin rpy="0 0 0" xyz="0.2265  0.0 0.09425" />
        <parent link="base_link" />
        <child link="t265_pose_frame" />
    </joint>
    <link name="t265_pose_frame">
        <visual>
            <origin rpy="1.5707963267948966 0 1.5707963267948966" xyz="0 0 0" />
            <geometry>
                <mesh filename="package://realsense_gazebo_description/meshes/t265_full.stl" scale="0.001 0.001 0.001" />
            </geometry>
            <material name="t265_aluminum" />
        </visual>
        <collision>
            <origin rpy="1.5707963267948966 0 1.5707963267948966" xyz="0 0 0" />
            <geometry>
                <mesh filename="package://realsense_gazebo_description/meshes/t265_simplified.stl" scale="0.001 0.001 0.001" />
            </geometry>
        </collision>
        <inertial>
            <!-- The following are not reliable values, and should not be used for modeling -->
            <mass value="0.068024" />
            <origin xyz="0 0 0" rpy="0 0 0" />
            <inertia ixx="0.0000039782" ixy="0.0" ixz="0.000000034641" iyy="0.000065045" iyz="0.0" izz="0.000067499" />
        </inertial>
    </link>
    <!-- camera body, with origin at camera_link -->
    <joint name="t265_link_joint" type="fixed">
        <origin rpy="1.5707963267948966 0 -1.5707963267948966" xyz="0 0 0" />
        <parent link="t265_pose_frame" />
        <child link="t265_link" />
    </joint>
    <link name="t265_link" />
    <joint name="t265_fisheye1_rgb_joint" type="fixed">
        <origin rpy="0 1.5707963267948966 1.5707963267948966" xyz="-0.0411 0.0 0.0" />
        <parent link="t265_link" />
        <child link="t265_fisheye1_rgb_frame" />
    </joint>
    <link name="t265_fisheye1_rgb_frame" />
    <joint name="t265_fisheye2_rgb_joint" type="fixed">
        <origin rpy="0 1.5707963267948966 1.5707963267948966" xyz="0.0229 0.0 0.0" />
        <parent link="t265_link" />
        <child link="t265_fisheye2_rgb_frame" />
    </joint>
    <link name="t265_fisheye2_rgb_frame" />
    <joint name="t265_fisheye1_optical_joint" type="fixed">
        <origin rpy="-1.5707963267948966 0 -1.5707963267948966" xyz="0 0 0" />
        <parent link="t265_fisheye1_rgb_frame" />
        <child link="t265_fisheye1_optical_frame" />
    </joint>
    <link name="t265_fisheye1_optical_frame" />
    <joint name="t265_fisheye2_optical_joint" type="fixed">
        <origin rpy="-1.5707963267948966 0 -1.5707963267948966" xyz="0 0 0" />
        <parent link="t265_fisheye2_rgb_frame" />
        <child link="t265_fisheye2_optical_frame" />
    </joint>
    <link name="t265_fisheye2_optical_frame" />
    <!-- IMU joints and links -->
    <joint name="t265_accel_joint" type="fixed">
        <origin rpy="0 3.141592653589793 0" xyz="-0.0311 0 0.00655" />
        <parent link="t265_link" />
        <child link="t265_accel_frame" />
    </joint>
    <link name="t265_accel_frame" />
    <joint name="t265_accel_optical_joint" type="fixed">
        <origin rpy="0 3.141592653589793 0" xyz="-0.0311 0 0.00655" />
        <parent link="t265_accel_frame" />
        <child link="t265_accel_optical_frame" />
    </joint>
    <link name="t265_accel_optical_frame" />
    <joint name="t265_gyro_joint" type="fixed">
        <origin rpy="0 3.141592653589793 0" xyz="-0.0311 0 0.00655" />
        <parent link="t265_link" />
        <child link="t265_gyro_frame" />
    </joint>
    <link name="t265_gyro_frame" />
    <joint name="t265_gyro_optical_joint" type="fixed">
        <origin rpy="0 0 0" xyz="0 0 0" />
        <parent link="t265_gyro_frame" />
        <child link="t265_gyro_optical_frame" />
    </joint>
    <link name="t265_gyro_optical_frame" />
    <!-- Load parameters to model's main link-->
    <gazebo reference="t265_fisheye1_rgb_frame">
        <self_collide>0</self_collide>
        <enable_wind>0</enable_wind>
        <kinematic>0</kinematic>
        <!-- <gravity>1</gravity> -->
        <!--<mu>1</mu>-->
        <mu2>1</mu2>
        <fdir1>0 0 0</fdir1>
        <!--<slip1>0</slip1>
      <slip2>0</slip2>-->
        <kp>1e+13</kp>
        <kd>1</kd>
        <!--<max_vel>0.01</max_vel>
      <min_depth>0</min_depth>-->
        <sensor name="t265fisheye1" type="wideanglecamera">
            <!-- <origin xyz="0 0 0" rpy="0 ${M_PI/2} 0"/> -->
            <update_rate>30</update_rate>
            <camera>
                <horizontal_fov>1.95</horizontal_fov>
                <image>
                    <width>848</width>
                    <height>800</height>
                </image>
                <clip>
                    <near>0.2</near>
                    <far>100</far>
                </clip>
                <lens>
                    <!-- type element is mandatory -->
                    <type>orthographic</type>
                    <!-- if it is set to `true` your horizontal FOV will remain as defined -->
                    <!-- othervise it depends on lens type and custom function, if there is one -->
                    <scale_to_hfov>true</scale_to_hfov>
                    <!-- clip everything that is outside of this angle -->
                    <!-- eye balled value for these cameras-->
                    <cutoff_angle>2.20</cutoff_angle>
                    <!-- resolution of the cubemap texture, the highter it is - the sharper is your image -->
                    <env_texture_size>1024</env_texture_size>
                </lens>
            </camera>
            <plugin filename="libgazebo_ros_camera.so" name="t265fisheye1">
                <alwaysOn>true</alwaysOn>
                <updateRate>30</updateRate>
                <cameraName>t265/fisheye1</cameraName>
                <imageTopicName>image_raw</imageTopicName>
                <cameraInfoTopicName>camera_info</cameraInfoTopicName>
                <frameName>t265_fisheye1_optical_frame</frameName>
                <hackBaseline>0.07</hackBaseline>
                <distortionK1>-0.00040996368625201285</distortionK1>
                <distortionK2>0.03653175011277199</distortionK2>
                <distortionK3>0.0</distortionK3>
                <distortionP1>-0.034823670983314514</distortionP1>
                <distortionP2>0.0052825710736215115</distortionP2>
                <Cx>416.22</Cx>
                <Cy>402.1</Cy>
                <CxPrime>416.22</CxPrime>
            </plugin>
        </sensor>
    </gazebo>
    <gazebo reference="t265_fisheye2_rgb_frame">
        <self_collide>0</self_collide>
        <enable_wind>0</enable_wind>
        <kinematic>0</kinematic>
        <!-- <gravity>1</gravity> -->
        <!--<mu>1</mu>-->
        <mu2>1</mu2>
        <fdir1>0 0 0</fdir1>
        <!--<slip1>0</slip1>
      <slip2>0</slip2>-->
        <kp>1e+13</kp>
        <kd>1</kd>
        <!--<max_vel>0.01</max_vel>
      <min_depth>0</min_depth>-->
        <sensor name="t265fisheye2" type="wideanglecamera">
            <!-- <origin xyz="0 0 0" rpy="0 ${M_PI/2} 0"/> -->
            <update_rate>30</update_rate>
            <camera>
                <horizontal_fov>2.84</horizontal_fov>
                <image>
                    <width>848</width>
                    <height>800</height>
                </image>
                <clip>
                    <near>0.1</near>
                    <far>100</far>
                </clip>
                <lens>
                    <!-- type element is mandatory -->
                    <type>orthographic</type>
                    <!-- if it is set to `true` your horizontal FOV will remain as defined -->
                    <!-- othervise it depends on lens type and custom function, if there is one -->
                    <scale_to_hfov>true</scale_to_hfov>
                    <!-- clip everything that is outside of this angle -->
                    <!-- eye balled value for these cameras-->
                    <cutoff_angle>2.20</cutoff_angle>
                    <!-- resolution of the cubemap texture, the highter it is - the sharper is your image -->
                    <env_texture_size>1024</env_texture_size>
                </lens>
            </camera>
            <always_on>1</always_on>
            <plugin filename="libgazebo_ros_camera.so" name="t265fisheye2">
                <alwaysOn>true</alwaysOn>
                <updateRate>30</updateRate>
                <cameraName>t265/fisheye2</cameraName>
                <imageTopicName>image_raw</imageTopicName>
                <cameraInfoTopicName>camera_info</cameraInfoTopicName>
                <frameName>t265_fisheye2_optical_frame</frameName>
                <hackBaseline>0.07</hackBaseline>
                <distortionK1>-0.00040996368625201285</distortionK1>
                <distortionK2>0.03653175011277199</distortionK2>
                <distortionK3>0.0</distortionK3>
                <distortionP1>-0.034823670983314514</distortionP1>
                <distortionP2>0.0052825710736215115</distortionP2>
            </plugin>
        </sensor>
        <sensor name="{camera_name}accel" type="imu">
            <always_on>true</always_on>
            <update_rate>62.5</update_rate>
            <plugin filename="librealsense_gazebo_accel_sensor.so" name="t265_accel_plugin">
                <topicName>t265/accel/sample</topicName>
                <bodyName>t265_pose_frame</bodyName>
                <updateRateHZ>62.5</updateRateHZ>
                <gaussianNoise>0.1</gaussianNoise>
                <xyzOffset>0 0 0</xyzOffset>
                <rpyOffset>0 0 0</rpyOffset>
                <frameName>t265_accel_optical_frame</frameName>
                <initialOrientationAsReference>false</initialOrientationAsReference>
            </plugin>
            <pose>0 0 0 0 0 0</pose>
        </sensor>
        <sensor name="{camera_name}gyro" type="imu">
            <always_on>true</always_on>
            <update_rate>200</update_rate>
            <topic>t265/gyro/sample</topic>
            <plugin filename="librealsense_gazebo_gyro_sensor.so" name="t265_gyro_plugin">
                <topicName>t265/gyro/sample</topicName>
                <bodyName>t265_pose_frame</bodyName>
                <updateRateHZ>200</updateRateHZ>
                <gaussianNoise>0.1</gaussianNoise>
                <xyzOffset>0 0 0</xyzOffset>
                <rpyOffset>0 0 0</rpyOffset>
                <frameName>t265_gyro_optical_frame</frameName>
                <initialOrientationAsReference>false</initialOrientationAsReference>
            </plugin>
        </sensor>
    </gazebo>
    <gazebo>
        <!-- Odom from SLAM -->
        <plugin filename="libgazebo_ros_p3d.so" name="p3d_base_controller">
            <alwaysOn>true</alwaysOn>
            <updateRate>262</updateRate>
            <bodyName>t265_pose_frame</bodyName>
            <topicName>t265/odom/sample</topicName>
            <gaussianNoise>0.01</gaussianNoise>
            <frameName>map</frameName>
            <xyzOffsets>0.0 0.0 0.0</xyzOffsets>
            <rpyOffsets>0.0 0.0 0.0</rpyOffsets>
        </plugin>
    </gazebo>
    <material name="d400_aluminum">
        <color rgba="0.5 0.5 0.5 1" />
    </material>
    <!-- camera body, with origin at bottom screw mount -->
    <joint name="d400_joint" type="fixed">
        <origin rpy="0.0 0.0 0.0" xyz="0.21150000000000002 0.0  0.114" />
        <parent link="base_link" />
        <child link="d400_bottom_screw_frame" />
    </joint>
    <link name="d400_bottom_screw_frame" />
    <joint name="d400_link_joint" type="fixed">
        <origin rpy="0 0 0" xyz="0 0.0175 0.0125" />
        <parent link="d400_bottom_screw_frame" />
        <child link="d400_link" />
    </joint>
    <link name="d400_link">
        <visual>
            <origin rpy="1.5707963267948966 0 1.5707963267948966" xyz="0.0149 -0.0175 0" />
            <geometry>
                <!-- <box size="${d435_cam_width} ${d435_cam_height} ${d435_cam_depth}"/> -->
                <mesh filename="package://realsense2_description/meshes/d435.dae" />
                <!--<mesh filename="package://realsense2_description/meshes/d435/d435.dae"/>-->
            </geometry>
            <material name="d400_aluminum" />
        </visual>
        <collision>
            <origin rpy="0 0 0" xyz="0 -0.0175 0" />
            <geometry>
                <box size="0.02505 0.09 0.025" />
            </geometry>
        </collision>
        <inertial>
            <!-- The following are not reliable values, and should not be used for modeling -->
            <mass value="0.564" />
            <origin xyz="0 0 0" rpy="0 0 0" />
            <inertia ixx="0.003881243" ixy="0.0" ixz="0.0" iyy="0.000498940" iyz="0.0" izz="0.003879257" />
        </inertial>
    </link>
    <!-- camera depth joints and links -->
    <joint name="d400_depth_joint" type="fixed">
        <origin rpy="0 0 0" xyz="0 0 0" />
        <parent link="d400_link" />
        <child link="d400_depth_frame" />
    </joint>
    <link name="d400_depth_frame" />
    <joint name="d400_depth_optical_joint" type="fixed">
        <origin rpy="-1.5707963267948966 0 -1.5707963267948966" xyz="0 0 0" />
        <parent link="d400_depth_frame" />
        <child link="d400_depth_optical_frame" />
    </joint>
    <link name="d400_depth_optical_frame" />
    <!-- camera left IR joints and links -->
    <joint name="d400_left_ir_joint" type="fixed">
        <origin rpy="0 0 0" xyz="0 0.0 0" />
        <parent link="d400_depth_frame" />
        <child link="d400_left_ir_frame" />
    </joint>
    <link name="d400_left_ir_frame" />
    <joint name="d400_left_ir_optical_joint" type="fixed">
        <origin rpy="-1.5707963267948966 0 -1.5707963267948966" xyz="0 0 0" />
        <parent link="d400_left_ir_frame" />
        <child link="d400_left_ir_optical_frame" />
    </joint>
    <link name="d400_left_ir_optical_frame" />
    <!-- camera right IR joints and links -->
    <joint name="d400_right_ir_joint" type="fixed">
        <origin rpy="0 0 0" xyz="0 -0.05 0" />
        <parent link="d400_depth_frame" />
        <child link="d400_right_ir_frame" />
    </joint>
    <link name="d400_right_ir_frame" />
    <joint name="d400_right_ir_optical_joint" type="fixed">
        <origin rpy="-1.5707963267948966 0 -1.5707963267948966" xyz="0 0 0" />
        <parent link="d400_right_ir_frame" />
        <child link="d400_right_ir_optical_frame" />
    </joint>
    <link name="d400_right_ir_optical_frame" />
    <!-- camera color joints and links -->
    <joint name="d400_color_joint" type="fixed">
        <origin rpy="0 0 0" xyz="0 0.015 0" />
        <parent link="d400_depth_frame" />
        <child link="d400_color_frame" />
    </joint>
    <link name="d400_color_frame" />
    <joint name="d400_color_optical_joint" type="fixed">
        <origin rpy="-1.5707963267948966 0 -1.5707963267948966" xyz="0 0 0" />
        <parent link="d400_color_frame" />
        <child link="d400_color_optical_frame" />
    </joint>
    <link name="d400_color_optical_frame" />
    <gazebo reference="d400_link">
        <self_collide>0</self_collide>
        <enable_wind>0</enable_wind>
        <kinematic>0</kinematic>
        <!-- <gravity>1</gravity> -->
        <!--<mu>1</mu>-->
        <mu2>1</mu2>
        <fdir1>0 0 0</fdir1>
        <!--<slip1>0</slip1>
      <slip2>0</slip2>-->
        <kp>1e+13</kp>
        <kd>1</kd>
        <!--<max_vel>0.01</max_vel>
      <min_depth>0</min_depth>-->
        <sensor name="d400color" type="camera">
            <camera name="d400">
                <horizontal_fov>1.2112585008840648</horizontal_fov>
                <image>
                    <width>1920</width>
                    <height>1080</height>
                    <format>RGB_INT8</format>
                </image>
                <clip>
                    <near>0.1</near>
                    <far>100</far>
                </clip>
                <noise>
                    <type>gaussian</type>
                    <mean>0.0</mean>
                    <stddev>0.007</stddev>
                </noise>
            </camera>
            <always_on>1</always_on>
            <update_rate>30</update_rate>
            <visualize>False</visualize>
        </sensor>
        <sensor name="d400ired1" type="camera">
            <camera name="d400">
                <horizontal_fov>1.4870205226991688</horizontal_fov>
                <image>
                    <width>640</width>
                    <height>480</height>
                    <format>L_INT8</format>
                </image>
                <clip>
                    <near>0.1</near>
                    <far>100</far>
                </clip>
                <noise>
                    <type>gaussian</type>
                    <mean>0.0</mean>
                    <stddev>0.05</stddev>
                </noise>
            </camera>
            <always_on>1</always_on>
            <update_rate>30</update_rate>
            <visualize>false</visualize>
        </sensor>
        <sensor name="d400ired2" type="camera">
            <camera name="d400">
                <horizontal_fov>1.4870205226991688</horizontal_fov>
                <image>
                    <width>640</width>
                    <height>480</height>
                    <format>L_INT8</format>
                </image>
                <clip>
                    <near>0.1</near>
                    <far>100</far>
                </clip>
                <noise>
                    <type>gaussian</type>
                    <mean>0.0</mean>
                    <stddev>0.05</stddev>
                </noise>
            </camera>
            <always_on>1</always_on>
            <update_rate>30</update_rate>
            <visualize>false</visualize>
        </sensor>
        <sensor name="d400depth" type="depth">
            <camera name="d400">
                <horizontal_fov>1.2112585008840648</horizontal_fov>
                <image>
                    <width>1920</width>
                    <height>1080</height>
                </image>
                <clip>
                    <near>0.1</near>
                    <far>100</far>
                </clip>
                <noise>
                    <type>gaussian</type>
                    <mean>0.0</mean>
                    <stddev>0.100</stddev>
                </noise>
            </camera>
            <always_on>1</always_on>
            <update_rate>30</update_rate>
            <visualize>false</visualize>
        </sensor>
    </gazebo>
    <gazebo>
        <plugin filename="librealsense_gazebo_plugin.so" name="d400">
            <prefix>d400</prefix>
            <!-- Color camera settings -->
            <colorUpdateRate>30</colorUpdateRate>
            <colorTopicName>color/image_raw</colorTopicName>
            <colorOpticalframeName>d400_color_optical_frame</colorOpticalframeName>
            <colorCameraInfoTopicName>color/camera_info</colorCameraInfoTopicName>
            <!-- Infrared camera settings -->
            <infraredUpdateRate>30</infraredUpdateRate>
            <infrared1TopicName>infra1/image_rect_raw</infrared1TopicName>
            <infrared2TopicName>infra2/image_rect_raw</infrared2TopicName>
            <infrared1CameraInfoTopicName>infra1/camera_info</infrared1CameraInfoTopicName>
            <infrared2CameraInfoTopicName>infra2/camera_info</infrared2CameraInfoTopicName>
            <infrared1OpticalframeName>d400_left_ir_optical_frame</infrared1OpticalframeName>
            <infrared2OpticalframeName>d400_right_ir_optical_frame</infrared2OpticalframeName>
            <!-- Depth camera settings -->
            <rangeMinDepth>0.2</rangeMinDepth>
            <rangeMaxDepth>10.0</rangeMaxDepth>
            <depthUpdateRate>30</depthUpdateRate>
            <depthTopicName>aligned_depth_to_color/image_raw</depthTopicName>
            <depthCameraInfoTopicName>aligned_depth_to_color/camera_info</depthCameraInfoTopicName>
            <depthOpticalframeName>d400_color_optical_frame</depthOpticalframeName>
            <!-- Pointlcloud settings -->
            <pointCloud>True</pointCloud>
            <pointCloudTopicName>depth/color/points</pointCloudTopicName>
            <pointCloudCutoff>0.5</pointCloudCutoff>
        </plugin>
    </gazebo>
    <arg default="true" name="standalone_load" />
    <arg default="omnibot_manipulator" name="robot_namespace" />
    <!-- transmission -->
    <transmission name="ang_tran1">
        <type>transmission_interface/SimpleTransmission</type>
        <joint name="ang_joint1">
            <hardwareInterface>hardware_interface/EffortJointInterface</hardwareInterface>
        </joint>
        <actuator name="ang_motor1">
            <hardwareInterface>hardware_interface/EffortJointInterface</hardwareInterface>
            <mechanicalReduction>1</mechanicalReduction>
        </actuator>
    </transmission>
    <transmission name="ang_tran2">
        <type>transmission_interface/SimpleTransmission</type>
        <joint name="ang_joint2">
            <hardwareInterface>hardware_interface/EffortJointInterface</hardwareInterface>
        </joint>
        <actuator name="ang_motor2">
            <hardwareInterface>hardware_interface/EffortJointInterface</hardwareInterface>
            <mechanicalReduction>1</mechanicalReduction>
        </actuator>
    </transmission>
    <transmission name="ang_tran3">
        <type>transmission_interface/SimpleTransmission</type>
        <joint name="ang_joint3">
            <hardwareInterface>hardware_interface/EffortJointInterface</hardwareInterface>
        </joint>
        <actuator name="ang_motor3">
            <hardwareInterface>hardware_interface/EffortJointInterface</hardwareInterface>
            <mechanicalReduction>1</mechanicalReduction>
        </actuator>
    </transmission>
    <transmission name="ang_tran4">
        <type>transmission_interface/SimpleTransmission</type>
        <joint name="ang_joint4">
            <hardwareInterface>hardware_interface/EffortJointInterface</hardwareInterface>
        </joint>
        <actuator name="ang_motor4">
            <hardwareInterface>hardware_interface/EffortJointInterface</hardwareInterface>
            <mechanicalReduction>1</mechanicalReduction>
        </actuator>
    </transmission>
    <transmission name="ang_tran5">
        <type>transmission_interface/SimpleTransmission</type>
        <joint name="ang_joint5">
            <hardwareInterface>hardware_interface/EffortJointInterface</hardwareInterface>
        </joint>
        <actuator name="ang_motor5">
            <hardwareInterface>hardware_interface/EffortJointInterface</hardwareInterface>
            <mechanicalReduction>1</mechanicalReduction>
        </actuator>
    </transmission>
    <transmission name="ang_tran5">
        <type>transmission_interface/SimpleTransmission</type>
        <joint name="ang_gripper">
            <hardwareInterface>hardware_interface/EffortJointInterface</hardwareInterface>
        </joint>
        <actuator name="ang_motor5">
            <hardwareInterface>hardware_interface/EffortJointInterface</hardwareInterface>
            <mechanicalReduction>1</mechanicalReduction>
        </actuator>
    </transmission>
    <transmission name="ang_tran5">
        <type>transmission_interface/SimpleTransmission</type>
        <joint name="ang_gripper">
            <hardwareInterface>hardware_interface/EffortJointInterface</hardwareInterface>
        </joint>
        <actuator name="ang_motor5">
            <hardwareInterface>hardware_interface/EffortJointInterface</hardwareInterface>
            <mechanicalReduction>1</mechanicalReduction>
        </actuator>
    </transmission>
    <transmission name="ang_tran5">
        <type>transmission_interface/SimpleTransmission</type>
        <joint name="ang_gripper_sub">
            <hardwareInterface>hardware_interface/EffortJointInterface</hardwareInterface>
        </joint>
        <actuator name="ang_motor5">
            <hardwareInterface>hardware_interface/EffortJointInterface</hardwareInterface>
            <mechanicalReduction>1</mechanicalReduction>
        </actuator>
    </transmission>
    <gazebo reference="ang_link0">
        <material>Gazebo/Gray</material>
    </gazebo>
    <gazebo reference="ang_link1">
        <material>Gazebo/Gray</material>
    </gazebo>
    <gazebo reference="ang_link2">
        <material>Gazebo/Gray</material>
    </gazebo>
    <gazebo reference="ang_link3">
        <material>Gazebo/Gray</material>
    </gazebo>
    <gazebo reference="ang_link4">
        <material>Gazebo/Gray</material>
    </gazebo>
    <gazebo reference="ang_link5">
        <material>Gazebo/Gray</material>
    </gazebo>
    <gazebo reference="ang_link7">
        <material>Gazebo/Orange</material>
        <mu1>100.0</mu1>
        <mu2>100.0</mu2>
        <minDepth>0.001</minDepth>
        <maxVel>0</maxVel>
    </gazebo>
    <gazebo reference="ang_link6">
        <mu1>100.0</mu1>
        <mu2>100.0</mu2>
        <minDepth>0.001</minDepth>
        <maxVel>0</maxVel>
        <material>Gazebo/Orange</material>
    </gazebo>
    <link name="ang_link0">
        <visual>
            <geometry>
                <mesh filename="package://omnibot_manipulator_description/meshes/link1.dae" scale="0.001 0.001 0.001" />
            </geometry>
        </visual>
        <inertial>
            <origin rpy="0 0 0" xyz="0 0 0.5" />
            <mass value="0.5" />
            <inertia ixx="0.01" ixy="0.0" ixz="0.0" iyy="0.01" iyz="0.0" izz="0.01" />
        </inertial>
        <collision>
            <geometry>
                <mesh filename="package://omnibot_manipulator_description/meshes/link1.dae" scale="0.001 0.001 0.001" />
            </geometry>
        </collision>
    </link>
    <joint name="ang_joint1" type="revolute">
        <parent link="ang_link0" />
        <child link="ang_link1" />
        <origin rpy="1.57 0 -1.57" xyz="0 0 0.107" />
        <axis xyz="0 1 0" />
        <dynamics damping="0.99" />
        <limit effort="5.0" lower="-3.14" upper="3.14" velocity="5.0" />
    </joint>
    <link name="ang_link1">
        <visual>
            <geometry>
                <mesh filename="package://omnibot_manipulator_description/meshes/link2.dae" scale="0.001 0.001 0.001" />
            </geometry>
        </visual>
        <inertial>
            <origin rpy="0 0 0" xyz="0 0.25 0" />
            <mass value="0.3" />
            <inertia ixx="0.01" ixy="0.0" ixz="0.0" iyy="0.01" iyz="0.0" izz="0.01" />
        </inertial>
        <collision>
            <geometry>
                <mesh filename="package://omnibot_manipulator_description/meshes/link2.dae" scale="0.001 0.001 0.001" />
            </geometry>
        </collision>
    </link>
    <joint name="ang_joint2" type="revolute">
        <parent link="ang_link1" />
        <child link="ang_link2" />
        <origin rpy="0 0 0" xyz="0 0.0518 0" />
        <axis xyz="0 0 1" />
        <dynamics damping="0.99" />
        <limit effort="5.0" lower="-1.57" upper="1.57" velocity="5.0" />
    </joint>
    <link name="ang_link2">
        <visual>
            <geometry>
                <mesh filename="package://omnibot_manipulator_description/meshes/link3.dae" scale="0.001 0.001 0.001" />
            </geometry>
        </visual>
        <inertial>
            <origin rpy="0 0 0" xyz="0 0.15 0" />
            <mass value="0.3" />
            <inertia ixx="0.01" ixy="0.0" ixz="0.0" iyy="0.01" iyz="0.0" izz="0.01" />
        </inertial>
        <collision>
            <geometry>
                <mesh filename="package://omnibot_manipulator_description/meshes/link3.dae" scale="0.001 0.001 0.001" />
            </geometry>
        </collision>
    </link>
    <joint name="ang_joint3" type="revolute">
        <parent link="ang_link2" />
        <child link="ang_link3" />
        <origin rpy="0 0 0" xyz="0.0626 0.1989 0" />
        <axis xyz="0 0 1" />
        <dynamics damping="0.99" />
        <limit effort="5.0" lower="-1.57" upper="1.57" velocity="5.0" />
    </joint>
    <link name="ang_link3">
        <visual>
            <geometry>
                <mesh filename="package://omnibot_manipulator_description/meshes/link4.dae" scale="0.001 0.001 0.001" />
            </geometry>
        </visual>
        <inertial>
            <origin rpy="0 0 0" xyz="0 0 0" />
            <mass value="0.3" />
            <inertia ixx="0.01" ixy="0.0" ixz="0.0" iyy="0.01" iyz="0.0" izz="0.01" />
        </inertial>
        <collision>
            <geometry>
                <mesh filename="package://omnibot_manipulator_description/meshes/link4.dae" scale="0.001 0.001 0.001" />
            </geometry>
        </collision>
    </link>
    <joint name="ang_joint4" type="revolute">
        <parent link="ang_link3" />
        <child link="ang_link4" />
        <origin rpy="-1.57 0 1.57" xyz="0.13093 0 0" />
        <axis xyz="0 -1 0" />
        <dynamics damping="0.99" />
        <limit effort="5.0" lower="-1.57" upper="1.57" velocity="5.0" />
    </joint>
    <link name="ang_link4">
        <visual>
            <geometry>
                <mesh filename="package://omnibot_manipulator_description/meshes/link5.dae" scale="0.001 0.001 0.001" />
            </geometry>
        </visual>
        <inertial>
            <origin rpy="0 0 0" xyz="0 0 0" />
            <mass value="0.3" />
            <inertia ixx="0.01" ixy="0.0" ixz="0.0" iyy="0.01" iyz="0.0" izz="0.01" />
        </inertial>
        <collision>
            <geometry>
                <mesh filename="package://omnibot_manipulator_description/meshes/link5.dae" scale="0.001 0.001 0.001" />
            </geometry>
        </collision>
    </link>
    <joint name="ang_joint5" type="revolute">
        <parent link="ang_link4" />
        <child link="ang_link5" />
        <origin rpy="0 0 0" xyz="0 0 -0.06174" />
        <axis xyz="0 0 -1" />
        <dynamics damping="0.99" />
        <limit effort="5.0" lower="-2.6" upper="2.6" velocity="5.0" />
    </joint>
    <link name="ang_link5">
        <visual>
            <geometry>
                <mesh filename="package://omnibot_manipulator_description/meshes/link6.dae" scale="0.001 0.001 0.001" />
            </geometry>
        </visual>
        <inertial>
            <origin rpy="0 0 0" xyz="0 0 0" />
            <mass value="0.3" />
            <inertia ixx="0.01" ixy="0.0" ixz="0.0" iyy="0.01" iyz="0.0" izz="0.01" />
        </inertial>
        <collision>
            <geometry>
                <mesh filename="package://omnibot_manipulator_description/meshes/link6.dae" scale="0.001 0.001 0.001" />
            </geometry>
        </collision>
    </link>
    <link name="tip_link" />
    <joint name="tip_joint" type="fixed">
        <parent link="ang_link5" />
        <child link="tip_link" />
        <origin rpy="0.0 0.0 0.0" xyz="0.0 0.0 -0.1" />
    </joint>
    <joint name="ang_gripper" type="prismatic">
        <parent link="ang_link5" />
        <child link="ang_link6" />
        <origin rpy="1.57 3.14 0" xyz="0 0 -0.0715" />
        <axis xyz="0 0 1" />
        <limit effort="3" lower="0" upper="0.025" velocity="0.05" />
        <dynamics damping="0.99" />
    </joint>
    <link name="ang_link6">
        <collision>
            <geometry>
                <mesh filename="package://omnibot_manipulator_description/meshes/link7.dae" scale="0.001 0.001 0.001" />
            </geometry>
        </collision>
        <visual>
            <geometry>
                <mesh filename="package://omnibot_manipulator_description/meshes/link7.dae" scale="0.001 0.001 0.001" />
            </geometry>
        </visual>
        <inertial>
            <origin rpy="0 0 0" xyz="0 0 0" />
            <mass value="0.3" />
            <inertia ixx="0.01" ixy="0.0" ixz="0.0" iyy="0.01" iyz="0.0" izz="0.01" />
        </inertial>
    </link>
    <joint name="ang_gripper_sub" type="prismatic">
        <parent link="ang_link5" />
        <child link="ang_link7" />
        <origin rpy="-1.57 0 0" xyz="0 0 -0.0715" />
        <axis xyz="0 0 1" />
        <limit effort="3" lower="0" upper="0.025" velocity="0.05" />
        <mimic joint="ang_gripper" multiplier="1" offset="0" />
        <dynamics damping="0.99" />
    </joint>
    <link name="ang_link7">
        <collision>
            <geometry>
                <mesh filename="package://omnibot_manipulator_description/meshes/link7.dae" scale="0.001 0.001 0.001" />
            </geometry>
        </collision>
        <visual>
            <geometry>
                <mesh filename="package://omnibot_manipulator_description/meshes/link7.dae" scale="0.001 0.001 0.001" />
            </geometry>
        </visual>
        <inertial>
            <origin rpy="0 0 0" xyz="0 0 0" />
            <mass value="0.1" />
            <inertia ixx="0.01" ixy="0.0" ixz="0.0" iyy="0.01" iyz="0.0" izz="0.01" />
        </inertial>
    </link>
    <joint name="manipulator_connector" type="fixed">
        <parent link="base_footprint" />
        <child link="ang_link0" />
        <origin rpy="0.0 0.0 1.57" xyz="0.096 0.0  0.113" />
    </joint>
</robot>
